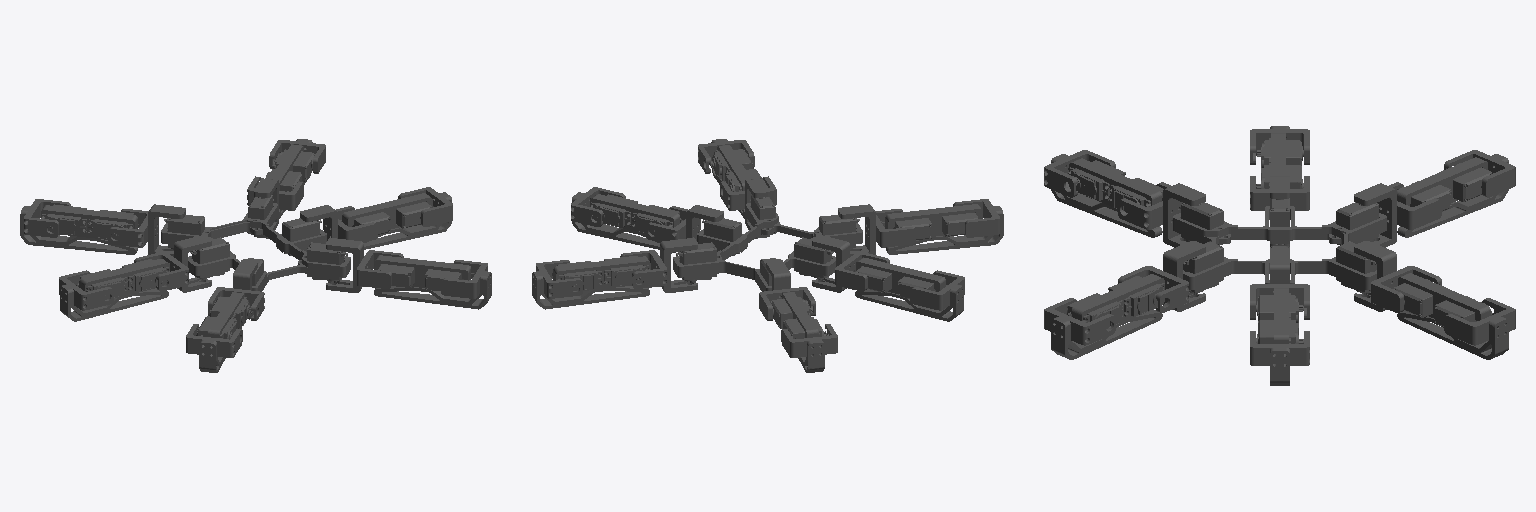
--- Render facts (derived) ---
3 views of the same robot in one strip: view 1: azimuth 30°, elevation 25°; view 2: azimuth 150°, elevation 25°; view 3: azimuth 270°, elevation 25° (orthographic).
Robot: Hexapod — 67 links, 66 joints (18 revolute, 48 fixed); root link base; default pose: every joint at zero.
Visible links, largest first — view 1: base, leg_3_tibia, leg_5_tibia, leg_6_tibia, leg_3_femur, leg_2_femur, leg_6_femur, leg_2_tibia, leg_5_femur, leg_3_femur_bracket_A, leg_3_tibia_bracket_A, leg_6_coxa_bracket_A (+25 smaller); view 2: base, leg_1_tibia, leg_5_tibia, leg_4_tibia, leg_4_femur, leg_5_femur, leg_1_femur, leg_2_tibia, leg_2_femur, leg_5_tibia_bracket_A, leg_4_tibia_bracket_A, leg_5_femur_bracket_A (+24 smaller); view 3: base, leg_3_tibia, leg_1_tibia, leg_1_femur, leg_4_tibia, leg_6_femur, leg_4_femur, leg_1_tibia_bracket_A, leg_3_femur, leg_6_tibia, leg_4_coxa_bracket_A, leg_6_coxa_bracket_A (+28 smaller).
Link boxes in pixels (box(x1,y1,x2,y2)): base: box(161, 203, 350, 291); leg_3_tibia: box(374, 271, 491, 309); leg_5_tibia: box(60, 284, 168, 321); leg_6_tibia: box(20, 206, 137, 254); leg_3_femur: box(374, 255, 470, 287); leg_2_femur: box(342, 193, 432, 229); leg_6_femur: box(41, 205, 137, 239); leg_2_tibia: box(348, 192, 451, 252); leg_5_femur: box(79, 259, 169, 297); leg_3_femur_bracket_A: box(357, 252, 391, 288); leg_3_tibia_bracket_A: box(441, 265, 487, 298); leg_6_coxa_bracket_A: box(148, 204, 185, 251); base: box(673, 203, 862, 291); leg_1_tibia: box(532, 271, 649, 309); leg_5_tibia: box(855, 284, 963, 321); leg_4_tibia: box(886, 206, 1003, 254); leg_4_femur: box(885, 204, 982, 236); leg_5_femur: box(856, 257, 945, 293); leg_1_femur: box(553, 256, 650, 290); leg_2_tibia: box(572, 192, 675, 252); leg_2_femur: box(590, 194, 679, 233); leg_5_tibia_bracket_A: box(910, 278, 963, 310); leg_4_tibia_bracket_A: box(965, 201, 999, 237); leg_5_femur_bracket_A: box(835, 253, 867, 291); base: box(1173, 206, 1386, 289); leg_3_tibia: box(1051, 309, 1162, 359); leg_1_tibia: box(1397, 310, 1508, 359); leg_1_femur: box(1398, 273, 1490, 320); leg_4_tibia: box(1051, 154, 1162, 237); leg_6_femur: box(1397, 157, 1487, 205); leg_4_femur: box(1069, 158, 1161, 206); leg_1_tibia_bracket_A: box(1444, 309, 1512, 345); leg_3_femur: box(1072, 274, 1164, 322); leg_6_tibia: box(1397, 154, 1508, 237); leg_4_coxa_bracket_A: box(1163, 183, 1205, 238); leg_6_coxa_bracket_A: box(1354, 183, 1396, 238).
Bounding box of the posed robot: 0.5148 × 0.4548 × 0.0609 m (x, y, z).
67 mesh visuals loaded from 6 distinct referenced files (6 binary STL).

robot.urdf — Hexapod:
<?xml version='1.0' encoding='utf-8'?>
<robot name="Hexapod">

    <material name="gray">
        <color rgba="0.4 0.4 0.4 1" />
    </material>

    <!-- Body -->

    <link name="base">
        <inertial>
            <origin xyz="-4.567197330417133e-06 0.0014207813889969261 0.00658135692503016" rpy="0.0 0.0 0.0" />
            <mass value="0.07235996288634414" />
            <inertia ixx="0.00027503594673628195" iyy="0.00019910910165675598" izz="0.0004719684331235039" ixy="1.1044492824149298e-08" iyz="-4.230155688856179e-07" ixz="-8.119007727403214e-10" />
        </inertial>
        <visual name="base_visual">
            <origin xyz="0.0 0.0 0.0" rpy="0.0 0.0 0.0" />
            <geometry>
                <mesh filename="CAD/base.stl" scale="0.001 0.001 0.001" />
            </geometry>
            <material name="gray"/>
        </visual>
        <collision name="base_collision">
            <origin xyz="0.0 0.0 0.0" rpy="0.0 0.0 0.0" />
            <geometry>
                <mesh filename="CAD/base.stl" scale="0.001 0.001 0.001" />
            </geometry>
        </collision>
    </link>

    <!-- Leg 1 -->

    <link name="leg_1_coxa_motor">
        <inertial>
            <origin xyz="0.013574471662495436 0.020999093948920588 0.008369892907608513" rpy="0.0 -0.0 0.0" />
            <mass value="0.029139949883713843" />
            <inertia ixx="5.5905783876468375e-06" iyy="5.590577528174812e-06" izz="5.0762677862824235e-06" ixy="-1.601493742541156e-06" iyz="-4.6930327749458066e-08" ixz="-4.693166015165574e-08" />
        </inertial>
        <visual name="leg_1_coxa_motor_visual">
            <origin xyz="0.034789656534207805 0.02842569347242403 -2.958437799684093e-17" rpy="-3.1415926535897922 -7.606971055477596e-16 -2.35619449019235" />
            <geometry>
                <mesh filename="CAD/MG996R.stl" scale="0.001 0.001 0.001" />
            </geometry>
            <material name="gray"/>
        </visual>
        <collision name="leg_1_coxa_motor_collision">
            <origin xyz="0.034789656534207805 0.02842569347242403 -2.958437799684093e-17" rpy="-3.1415926535897922 -7.606971055477596e-16 -2.35619449019235" />
            <geometry>
                <mesh filename="CAD/MG996R.stl" scale="0.001 0.001 0.001" />
            </geometry>
        </collision>
    </link>
    <link name="leg_1_coxa_bracket_B">
        <inertial>
            <origin xyz="-0.003105251669849143 0.014525191609803123 -0.0074541224383952095" rpy="5.691615141457044e-61 -0.0 0.0" />
            <mass value="0.004130529991365324" />
            <inertia ixx="7.023383537157265e-07" iyy="3.6345289474121016e-07" izz="3.6345289474575026e-07" ixy="7.667259002195375e-09" iyz="1.866291193022852e-07" ixz="-7.667259001889596e-09" />
        </inertial>
        <visual name="leg_1_coxa_bracket_B_visual">
            <origin xyz="0.022900003203435226 0.000707103897757353 0.006363965273596914" rpy="2.3561944901923506 -6.414614657916635e-16 3.1415926535897905" />
            <geometry>
                <mesh filename="CAD/bracket_B.stl" scale="0.001 0.001 0.001" />
            </geometry>
            <material name="gray"/>
        </visual>
        <collision name="leg_1_coxa_bracket_B_collision">
            <origin xyz="0.022900003203435226 0.000707103897757353 0.006363965273596914" rpy="2.3561944901923506 -6.414614657916635e-16 3.1415926535897905" />
            <geometry>
                <mesh filename="CAD/bracket_B.stl" scale="0.001 0.001 0.001" />
            </geometry>
        </collision>
    </link>
    <link name="leg_1_coxa_bracket_A">
        <inertial>
            <origin xyz="-0.015926416210366803 -0.015926407039013685 -0.010950415401159198" rpy="0.0 -0.0 0.0" />
            <mass value="0.01302030082235085" />
            <inertia ixx="4.456492754704972e-06" iyy="4.4564927547023565e-06" izz="2.2212930817995568e-06" ixy="-6.7818217166459e-07" iyz="-9.764098496075963e-07" ixz="-9.764098496048723e-07" />
        </inertial>
        <visual name="leg_1_coxa_bracket_A_visual">
            <origin xyz="-0.055545471515115345 -0.055545462343760815 -0.04320260861218249" rpy="-0.7853981633974432 1.5707963267948941 0" />
            <geometry>
                <mesh filename="CAD/bracket_A.stl" scale="0.001 0.001 0.001" />
            </geometry>
            <material name="gray"/>
        </visual>
        <collision name="leg_1_coxa_bracket_A_collision">
            <origin xyz="-0.055545471515115345 -0.055545462343760815 -0.04320260861218249" rpy="-0.7853981633974432 1.5707963267948941 0" />
            <geometry>
                <mesh filename="CAD/bracket_A.stl" scale="0.001 0.001 0.001" />
            </geometry>
        </collision>
    </link>
    <link name="leg_1_femur_bracket_A">
        <inertial>
            <origin xyz="-0.012675760983264742 -0.003554678519033221 0.005000003203434631" rpy="0.0 -0.0 0.0" />
            <mass value="0.01302030082235085" />
            <inertia ixx="1.6189497806714257e-06" iyy="4.380653884166873e-06" izz="5.134674926367841e-06" ixy="7.785087506199451e-07" iyz="-4.726443845678996e-19" ixz="2.349669395683429e-18" />
        </inertial>
        <visual name="leg_1_femur_bracket_A_visual">
            <origin xyz="0.04974903884913646 0.013258632258061188 0.005000003203435334" rpy="1.5707963267948983 1.2896663962143586e-15 -0.7853981633974524" />
            <geometry>
                <mesh filename="CAD/bracket_A.stl" scale="0.001 0.001 0.001" />
            </geometry>
            <material name="gray"/>
        </visual>
        <collision name="leg_1_femur_bracket_A_collision">
            <origin xyz="0.04974903884913646 0.013258632258061188 0.005000003203435334" rpy="1.5707963267948983 1.2896663962143586e-15 -0.7853981633974524" />
            <geometry>
                <mesh filename="CAD/bracket_A.stl" scale="0.001 0.001 0.001" />
            </geometry>
        </collision>
    </link>
    <link name="leg_1_femur_bracket_B">
        <inertial>
            <origin xyz="-0.0049999967965269135 -0.013185405881645487 0.008793910918232131" rpy="0.0 -0.0 0.0" />
            <mass value="0.004130529991365324" />
            <inertia ixx="5.500820140457417e-07" iyy="4.2873792291154715e-07" izz="4.5042420624536415e-07" ixy="1.7550522667109103e-18" iyz="2.627572891372471e-07" ixz="-1.4560496363301423e-18" />
        </inertial>
        <visual name="leg_1_femur_bracket_B_visual">
            <origin xyz="-0.004999996796564824 0.01902117389775734 0.013364315273596947" rpy="-1.7383551510003044e-15 0.7853981633974443 -1.5707963267948983" />
            <geometry>
                <mesh filename="CAD/bracket_B.stl" scale="0.001 0.001 0.001" />
            </geometry>
            <material name="gray"/>
        </visual>
        <collision name="leg_1_femur_bracket_B_collision">
            <origin xyz="-0.004999996796564824 0.01902117389775734 0.013364315273596947" rpy="-1.7383551510003044e-15 0.7853981633974443 -1.5707963267948983" />
            <geometry>
                <mesh filename="CAD/bracket_B.stl" scale="0.001 0.001 0.001" />
            </geometry>
        </collision>
    </link>
    <link name="leg_1_femur_motor">
        <inertial>
            <origin xyz="5.4061232124258395e-09 -0.0231178146864527 -0.008979636323357543" rpy="4.337878534446334e-75 -0.0 0.0" />
            <mass value="0.029139949883713843" />
            <inertia ixx="7.1920717004518315e-06" iyy="4.599046448966514e-06" izz="4.466305552685429e-06" ixy="9.700703510872458e-13" iyz="5.435917854563437e-07" ixz="3.6233184150507507e-13" />
        </inertial>
        <visual name="leg_1_femur_motor_visual">
            <origin xyz="-0.009749996796564731 -0.043357114916835776 -0.0005771521585247364" rpy="-3.1415926535897833 0.7853981633974512 1.5707963267948943" />
            <geometry>
                <mesh filename="CAD/MG996R.stl" scale="0.001 0.001 0.001" />
            </geometry>
            <material name="gray"/>
        </visual>
        <collision name="leg_1_femur_motor_collision">
            <origin xyz="-0.009749996796564731 -0.043357114916835776 -0.0005771521585247364" rpy="-3.1415926535897833 0.7853981633974512 1.5707963267948943" />
            <geometry>
                <mesh filename="CAD/MG996R.stl" scale="0.001 0.001 0.001" />
            </geometry>
        </collision>
    </link>
    <link name="leg_1_femur">
        <inertial>
            <origin xyz="-0.04233946112690463 -0.032331021486653955 -0.005249996796564785" rpy="0.0 7.006492321624085e-46 1.2066609121497597e-89" />
            <mass value="0.021802151943504742" />
            <inertia ixx="1.5076488302837017e-05" iyy="1.5076488302836252e-05" izz="2.5188056838580504e-05" ixy="-1.223245766346636e-05" iyz="-1.6940658945086154e-20" ixz="-2.7105054312137533e-20" />
        </inertial>
        <visual name="leg_1_femur_visual">
            <origin xyz="-0.06738728096951471 -0.04758828817165156 -0.005249996796564868" rpy="1.5707963267948986 -1.5804414278766448e-15 0.7853981633974446" />
            <geometry>
                <mesh filename="CAD/femur.stl" scale="0.001 0.001 0.001" />
            </geometry>
            <material name="gray"/>
        </visual>
        <collision name="leg_1_femur_collision">
            <origin xyz="-0.06738728096951471 -0.04758828817165156 -0.005249996796564868" rpy="1.5707963267948986 -1.5804414278766448e-15 0.7853981633974446" />
            <geometry>
                <mesh filename="CAD/femur.stl" scale="0.001 0.001 0.001" />
            </geometry>
        </collision>
    </link>
    <link name="leg_1_tibia_motor">
        <inertial>
            <origin xyz="0.011368372072919223 -0.023205191063109327 0.005249998999252793" rpy="0.0 -0.0 -1.9481407417666057e-90" />
            <mass value="0.029139949883713843" />
            <inertia ixx="4.599046448966731e-06" iyy="4.466305552685537e-06" izz="7.192071700452265e-06" ixy="5.435917854563436e-07" iyz="-3.62331848281338e-13" ixz="-9.700703578635096e-13" />
        </inertial>
        <visual name="leg_1_tibia_motor_visual">
            <origin xyz="0.031607672303302387 -0.03160767522794195 -0.004500003203435124" rpy="1.5707963267948946 -1.4579767479619077e-15 2.3561944901923497" />
            <geometry>
                <mesh filename="CAD/MG996R.stl" scale="0.001 0.001 0.001" />
            </geometry>
            <material name="gray"/>
        </visual>
        <collision name="leg_1_tibia_motor_collision">
            <origin xyz="0.031607672303302387 -0.03160767522794195 -0.004500003203435124" rpy="1.5707963267948946 -1.4579767479619077e-15 2.3561944901923497" />
            <geometry>
                <mesh filename="CAD/MG996R.stl" scale="0.001 0.001 0.001" />
            </geometry>
        </collision>
    </link>
    <link name="leg_1_tibia_bracket_A">
        <inertial>
            <origin xyz="-0.008183294094499942 -0.023669531630267856 3.203435771093055e-09" rpy="0.0 -0.0 -5.001342253538129e-90" />
            <mass value="0.01302030082235085" />
            <inertia ixx="4.380653884166928e-06" iyy="1.6189497806713173e-06" izz="5.134674926367678e-06" ixy="7.785087506200264e-07" iyz="2.3954091748351614e-18" ixz="-5.183841637196319e-19" />
        </inertial>
        <visual name="leg_1_tibia_bracket_A_visual">
            <origin xyz="-0.024996604871594885 -0.08609433146266905 3.203434947307571e-09" rpy="-1.570796326794895 2.6216440076822113e-15 -0.7853981633974513" />
            <geometry>
                <mesh filename="CAD/bracket_A.stl" scale="0.001 0.001 0.001" />
            </geometry>
            <material name="gray"/>
        </visual>
        <collision name="leg_1_tibia_bracket_A_collision">
            <origin xyz="-0.024996604871594885 -0.08609433146266905 3.203434947307571e-09" rpy="-1.570796326794895 2.6216440076822113e-15 -0.7853981633974513" />
            <geometry>
                <mesh filename="CAD/bracket_A.stl" scale="0.001 0.001 0.001" />
            </geometry>
        </collision>
    </link>
    <link name="leg_1_tibia_bracket_B">
        <inertial>
            <origin xyz="-0.004999996796602597 0.008793918304699026 -0.013185403268111866" rpy="1.5241149863310267e-61 8.758115402030107e-47 0.0" />
            <mass value="0.004130529991365324" />
            <inertia ixx="5.500820140457688e-07" iyy="4.5042420624536405e-07" izz="4.2873792291151327e-07" ixy="1.4602848010664136e-18" iyz="2.6275728913721994e-07" ixz="-1.748276003132876e-18" />
        </inertial>
        <visual name="leg_1_tibia_bracket_B_visual">
            <origin xyz="-0.004999996796564574 0.01336432266006412 0.01902117651129096" rpy="-3.1415926535897922 0.7853981633974451 -1.570796326794902" />
            <geometry>
                <mesh filename="CAD/bracket_B.stl" scale="0.001 0.001 0.001" />
            </geometry>
            <material name="gray"/>
        </visual>
        <collision name="leg_1_tibia_bracket_B_collision">
            <origin xyz="-0.004999996796564574 0.01336432266006412 0.01902117651129096" rpy="-3.1415926535897922 0.7853981633974451 -1.570796326794902" />
            <geometry>
                <mesh filename="CAD/bracket_B.stl" scale="0.001 0.001 0.001" />
            </geometry>
        </collision>
    </link>
    <link name="leg_1_tibia">
        <inertial>
            <origin xyz="0.026965073129646255 0.03403614230100331 -0.026581936859366603" rpy="0.0 -3.503246160812043e-46 0.0" />
            <mass value="0.02243468417663065" />
            <inertia ixx="2.20268536708009e-05" iyy="2.2026853670809242e-05" izz="3.948923882044343e-05" ixy="-1.9223537837673336e-05" iyz="2.9439831431853673e-06" ixz="2.9439831431894402e-06" />
        </inertial>
        <visual name="leg_1_tibia_visual">
            <origin xyz="0.023334521173797997 0.030405590345152902 -0.004999996871070658" rpy="2.1072934008282714e-15 -2.164998327842474e-15 2.3561944901923417" />
            <geometry>
                <mesh filename="CAD/tibia.stl" scale="0.001 0.001 0.001" />
            </geometry>
            <material name="gray"/>
        </visual>
        <collision name="leg_1_tibia_collision">
            <origin xyz="0.023334521173797997 0.030405590345152902 -0.004999996871070658" rpy="2.1072934008282714e-15 -2.164998327842474e-15 2.3561944901923417" />
            <geometry>
                <mesh filename="CAD/tibia.stl" scale="0.001 0.001 0.001" />
            </geometry>
        </collision>
    </link>

    <joint name="base_leg_1_base_coxa_motor" type="fixed">
        <origin xyz="0.06338894406140227 0.09617856323275542 0.0" rpy="0.0 -0.0 -3.141592653589793" />
        <parent link="base" />
        <child link="leg_1_coxa_motor" />
    </joint>
    <joint name="leg_1_coxa_bracket_A_leg_1_coxa_bracket" type="fixed">
        <origin xyz="-0.017677670000000003 -0.024748730000000007 -0.0453" rpy="3.3187136453961136e-46 -1.5707963267948966 0" />
        <parent link="leg_1_coxa_bracket_A" />
        <child link="leg_1_coxa_bracket_B" />
    </joint>
    <joint name="leg_1_coxa" type="revolute">
        <origin xyz="0.006505390000000002 0.013930000000000007 0.03106621" rpy="1.9721522630525295e-31 -0.0 -3.3187136453961136e-46" />
        <parent link="leg_1_coxa_motor" />
        <child link="leg_1_coxa_bracket_A" />
        <axis xyz="0.0 -1.9721522630525295e-31 -1.0" />
        <limit lower="-1.570796" upper="1.570796" effort="1000000" velocity="1000000" />
    </joint>
    <joint name="leg_1_femur_bracket_A_leg_1_coxa_bracket_femur_bracket" type="fixed">
        <origin xyz="0.01689985 -0.022556709999999997 0.01" rpy="3.944304526105059e-31 -1.5707963267948966 0" />
        <parent link="leg_1_femur_bracket_A" />
        <child link="leg_1_femur_bracket_B" />
    </joint>
    <joint name="leg_1_coxa_bracket_A_leg_1_femur_bracket" type="fixed">
        <origin xyz="-0.027577170000000005 -0.020506090000000015 -0.027400000000000004" rpy="2.6887765138291873e-30 6.5450086261912554e-77 3.3187136453961136e-46" />
        <parent link="leg_1_coxa_bracket_A" />
        <child link="leg_1_femur_bracket_A" />
    </joint>
    <joint name="leg_1_femur" type="revolute">
        <origin xyz="-0.03634529000000001 -0.011737969999999986 0.005" rpy="-6.661338147750935e-16 -1.5707963267948966 0" />
        <parent link="leg_1_femur_bracket_A" />
        <child link="leg_1_femur_motor" />
        <axis xyz="-2.594261684304826e-30 0.7071069999999996 0.7071070000000005" />
        <limit lower="-1.570796" upper="1.570796" effort="1000000" velocity="1000000" />
    </joint>
    <joint name="leg_1_femur_motor_leg_1_femur_motor_femur" type="fixed">
        <origin xyz="0.00525 -0.011749439999999965 -0.032184830000000025" rpy="-6.611709141336395e-45 1.570796326794896 0" />
        <parent link="leg_1_femur_motor" />
        <child link="leg_1_femur" />
    </joint>
    <joint name="leg_1_femur_leg_1_femur_tibia_motor" type="fixed">
        <origin xyz="-0.07467048 -0.07467048000000003 2.220446049250313e-18" rpy="3.141592653589793 -1.51226552030483e-30 3.94430452610506e-31" />
        <parent link="leg_1_femur" />
        <child link="leg_1_tibia_motor" />
    </joint>
    <joint name="leg_1_tibia_bracket_A_leg_1_tibia_bracket" type="fixed">
        <origin xyz="0.010818740000000026 -0.05324515000000002 0.005000000000000001" rpy="-1.97215226305253e-31 -1.5707963267948966 0" />
        <parent link="leg_1_tibia_bracket_A" />
        <child link="leg_1_tibia_bracket_B" />
    </joint>
    <joint name="leg_1_tibia" type="revolute">
        <origin xyz="-0.01174944 -0.032184830000000025 0.00525" rpy="-3.141592653589793 4.759319555259372e-30 1.1543557789201666e-90" />
        <parent link="leg_1_tibia_motor" />
        <child link="leg_1_tibia_bracket_A" />
        <axis xyz="0.707107 -0.707107 -1.0126468723405215e-29" />
        <limit lower="-2.181662" upper="-0.0" effort="1000000" velocity="1000000" />
    </joint>
    <joint name="leg_1_tibia_bracket_A_leg_1_tibia_bracket_tibia" type="fixed">
        <origin xyz="-0.004666899999999998 -0.043416360000000015 0.005000000000000001" rpy="-9.860761315262648e-31 4.894350220025294e-30 -1.9721522630525295e-31" />
        <parent link="leg_1_tibia_bracket_A" />
        <child link="leg_1_tibia" />
    </joint>

    <!-- Leg 2 -->

    <link name="leg_2_coxa_motor">
        <inertial>
            <origin xyz="0.02444720409026191 0.0052500054354434715 0.008369892907608496" rpy="0.0 -0.0 0.0" />
            <mass value="0.20795327871559424" />
            <inertia ixx="2.8467555536956224e-05" iyy="5.132523895322533e-05" izz="3.6226092838469756e-05" ixy="-3.0667524590763037e-12" iyz="6.72352947090753e-12" ixz="-4.7364365263922396e-07" />
        </inertial>
        <visual name="leg_2_coxa_motor_visual">
            <origin xyz="0.044700004061402086 -0.004499996767244423 -7.679184985266577e-17" rpy="-3.141592653589793 -1.7201985660320116e-15 3.141592653589793" />
            <geometry>
                <mesh filename="CAD/MG996R.stl" scale="0.001 0.001 0.001" />
            </geometry>
            <material name="gray"/>
        </visual>
        <collision name="leg_2_coxa_motor_collision">
            <origin xyz="0.044700004061402086 -0.004499996767244423 -7.679184985266577e-17" rpy="-3.141592653589793 -1.7201985660320116e-15 3.141592653589793" />
            <geometry>
                <mesh filename="CAD/MG996R.stl" scale="0.001 0.001 0.001" />
            </geometry>
        </collision>
    </link>
    <link name="leg_2_coxa_bracket_B">
        <inertial>
            <origin xyz="-0.0031052516698490164 0.005000003232793494 -0.015541731109800186" rpy="0.0 -0.0 0.0" />
            <mass value="0.029476964029288902" />
            <inertia ixx="5.0121418878803635e-06" iyy="3.925585282053807e-06" izz="1.2618787611030848e-06" ixy="1.5353530960168262e-18" iyz="1.6205434346869274e-17" ixz="-7.738060189573621e-08" />
        </inertial>
        <visual name="leg_2_coxa_bracket_B_visual">
            <origin xyz="0.0229000032034354 0.005000003232755467 0.0039999959385979625" rpy="3.1415926535897927 -8.24298540808992e-16 3.1415926535897913" />
            <geometry>
                <mesh filename="CAD/bracket_B.stl" scale="0.001 0.001 0.001" />
            </geometry>
            <material name="gray"/>
        </visual>
        <collision name="leg_2_coxa_bracket_B_collision">
            <origin xyz="0.0229000032034354 0.005000003232755467 0.0039999959385979625" rpy="3.1415926535897927 -8.24298540808992e-16 3.1415926535897913" />
            <geometry>
                <mesh filename="CAD/bracket_B.stl" scale="0.001 0.001 0.001" />
            </geometry>
        </collision>
    </link>
    <link name="leg_2_coxa_bracket_A">
        <inertial>
            <origin xyz="-0.022523343077750165 3.2327548002419883e-09 -0.010950415401159055" rpy="0.0 -0.0 0.0" />
            <mass value="0.09291760132314016" />
            <inertia ixx="2.6963398251687907e-05" iyy="3.6642907429082646e-05" izz="1.5851955174660498e-05" ixy="-9.337691210531407e-18" iyz="-1.3833318578083606e-17" ixz="-9.8542623692912e-06" />
        </inertial>
        <visual name="leg_2_coxa_bracket_A_visual">
            <origin xyz="-0.07855314841813432 3.2327555024580513e-09 -0.04320260861218222" rpy="-3.194319442119254e-45 1.5707963267948948 0" />
            <geometry>
                <mesh filename="CAD/bracket_A.stl" scale="0.001 0.001 0.001" />
            </geometry>
            <material name="gray"/>
        </visual>
        <collision name="leg_2_coxa_bracket_A_collision">
            <origin xyz="-0.07855314841813432 3.2327555024580513e-09 -0.04320260861218222" rpy="-3.194319442119254e-45 1.5707963267948948 0" />
            <geometry>
                <mesh filename="CAD/bracket_A.stl" scale="0.001 0.001 0.001" />
            </geometry>
        </collision>
    </link>
    <link name="leg_2_femur_bracket_A">
        <inertial>
            <origin xyz="-0.011476648799445517 0.0064495846281610175 0.0050000032034348205" rpy="0.0 -0.0 0.0" />
            <mass value="0.09291760132314016" />
            <inertia ixx="2.696339825168818e-05" iyy="1.5851955174657354e-05" izz="3.664290742907907e-05" ixy="9.854262369290794e-06" iyz="-1.4267422963551435e-17" ixz="9.513874063560301e-18" />
        </inertial>
        <visual name="leg_2_femur_bracket_A_visual">
            <origin xyz="0.04455315654093875 -0.02580260858286211 0.005000003203435406" rpy="1.570796326794896 8.510717720686041e-16 -1.5707963267948954" />
            <geometry>
                <mesh filename="CAD/bracket_A.stl" scale="0.001 0.001 0.001" />
            </geometry>
            <material name="gray"/>
        </visual>
        <collision name="leg_2_femur_bracket_A_collision">
            <origin xyz="0.04455315654093875 -0.02580260858286211 0.005000003203435406" rpy="1.570796326794896 8.510717720686041e-16 -1.5707963267948954" />
            <geometry>
                <mesh filename="CAD/bracket_A.stl" scale="0.001 0.001 0.001" />
            </geometry>
        </collision>
    </link>
    <link name="leg_2_femur_bracket_B">
        <inertial>
            <origin xyz="-0.0049999967965266776 -0.003105251640528857 0.015541722986996156" rpy="0.0 -0.0 0.0" />
            <mass value="0.029476964029288902" />
            <inertia ixx="3.92558528205378e-06" iyy="5.012141887880445e-06" izz="1.261878761103178e-06" ixy="1.5077186461126546e-18" iyz="7.738060189576331e-08" ixz="-1.620882247865829e-17" />
        </inertial>
        <visual name="leg_2_femur_bracket_B_visual">
            <origin xyz="-0.004999996796564646 0.022900003232755522 -0.004000004061401992" rpy="-1.295326278414143e-15 1.0547118733938999e-15 -1.5707963267948974" />
            <geometry>
                <mesh filename="CAD/bracket_B.stl" scale="0.001 0.001 0.001" />
            </geometry>
            <material name="gray"/>
        </visual>
        <collision name="leg_2_femur_bracket_B_collision">
            <origin xyz="-0.004999996796564646 0.022900003232755522 -0.004000004061401992" rpy="-1.295326278414143e-15 1.0547118733938999e-15 -1.5707963267948974" />
            <geometry>
                <mesh filename="CAD/bracket_B.stl" scale="0.001 0.001 0.001" />
            </geometry>
        </collision>
    </link>
    <link name="leg_2_femur_motor">
        <inertial>
            <origin xyz="5.406123489981596e-09 -0.0226963170630714 0.009997195967457665" rpy="5.402641209858873e-93 -0.0 0.0" />
            <mass value="0.20795327871559424" />
            <inertia ixx="5.13252389532249e-05" iyy="3.6226092838469e-05" izz="2.8467555536956125e-05" ixy="6.7235294484611595e-12" iyz="-4.736436526391849e-07" ixz="-3.066752526838935e-12" />
        </inertial>
        <visual name="leg_2_femur_motor_visual">
            <origin xyz="-0.009749996796564402 -0.031066209970679957 0.03024999593859782" rpy="1.570796326794899 1.5707963267948941 0" />
            <geometry>
                <mesh filename="CAD/MG996R.stl" scale="0.001 0.001 0.001" />
            </geometry>
            <material name="gray"/>
        </visual>
        <collision name="leg_2_femur_motor_collision">
            <origin xyz="-0.009749996796564402 -0.031066209970679957 0.03024999593859782" rpy="1.570796326794899 1.5707963267948941 0" />
            <geometry>
                <mesh filename="CAD/MG996R.stl" scale="0.001 0.001 0.001" />
            </geometry>
        </collision>
    </link>
    <link name="leg_2_femur">
        <inertial>
            <origin xyz="-0.052799995938616 0.007077033500005008 -0.005249996796564443" rpy="0.0 -0.0 0.0" />
            <mass value="0.155588084324102" />
            <inertia ixx="2.0296036835505468e-05" iyy="0.00019488656894134197" izz="0.00017975113289350313" ixy="-3.1704443215728458e-18" iyz="4.8572045569113707e-20" ixz="5.4210108624275186e-20" />
        </inertial>
        <visual name="leg_2_femur_visual">
            <origin xyz="-0.081299995938598 0.014000000029319995 -0.005249996796564461" rpy="1.5707963267948981 7.771561172376091e-16 1.3877787807814457e-15" />
            <geometry>
                <mesh filename="CAD/femur.stl" scale="0.001 0.001 0.001" />
            </geometry>
            <material name="gray"/>
        </visual>
        <collision name="leg_2_femur_collision">
            <origin xyz="-0.081299995938598 0.014000000029319995 -0.005249996796564461" rpy="1.5707963267948981 7.771561172376091e-16 1.3877787807814457e-15" />
            <geometry>
                <mesh filename="CAD/femur.stl" scale="0.001 0.001 0.001" />
            </geometry>
        </collision>
    </link>
    <link name="leg_2_tibia_motor">
        <inertial>
            <origin xyz="0.024447204090261715 -0.008369892936928471 0.005249998999252401" rpy="0.0 -0.0 -1.0767935747447776e-62" />
            <mass value="0.20795327871559424" />
            <inertia ixx="2.8467555536956068e-05" iyy="3.622609283846813e-05" izz="5.132523895322663e-05" ixy="4.7364365263925784e-07" iyz="-6.7235295230000565e-12" ixz="-3.0667525268389395e-12" />
        </inertial>
        <visual name="leg_2_tibia_motor_visual">
            <origin xyz="0.044700004061401906 -2.931993758892304e-11 -0.004500003203435472" rpy="1.570796326794895 8.996207971523451e-16 3.1415926535897927" />
            <geometry>
                <mesh filename="CAD/MG996R.stl" scale="0.001 0.001 0.001" />
            </geometry>
            <material name="gray"/>
        </visual>
        <collision name="leg_2_tibia_motor_collision">
            <origin xyz="0.044700004061401906 -2.931993758892304e-11 -0.004500003203435472" rpy="1.570796326794895 8.996207971523451e-16 3.1415926535897927" />
            <geometry>
                <mesh filename="CAD/MG996R.stl" scale="0.001 0.001 0.001" />
            </geometry>
        </collision>
    </link>
    <link name="leg_2_tibia_bracket_A">
        <inertial>
            <origin xyz="-0.02252334307775044 -0.01095041537183914 3.2034362584809628e-09" rpy="0.0 -0.0 0.0" />
            <mass value="0.09291760132314016" />
            <inertia ixx="2.696339825168882e-05" iyy="1.585195517465627e-05" izz="3.6642907429077984e-05" ixy="-9.854262369291445e-06" iyz="1.473498515043581e-17" ixz="9.459663954936026e-18" />
        </inertial>
        <visual name="leg_2_tibia_bracket_A_visual">
            <origin xyz="-0.07855314841813467 -0.04320260858286247 3.2034355823551408e-09" rpy="-1.5707963267948974 2.1830493835364575e-15 -1.5707963267948943" />
            <geometry>
                <mesh filename="CAD/bracket_A.stl" scale="0.001 0.001 0.001" />
            </geometry>
            <material name="gray"/>
        </visual>
        <collision name="leg_2_tibia_bracket_A_collision">
            <origin xyz="-0.07855314841813467 -0.04320260858286247 3.2034355823551408e-09" rpy="-1.5707963267948974 2.1830493835364575e-15 -1.5707963267948943" />
            <geometry>
                <mesh filename="CAD/bracket_A.stl" scale="0.001 0.001 0.001" />
            </geometry>
        </collision>
    </link>
    <link name="leg_2_tibia_bracket_B">
        <inertial>
            <origin xyz="-0.004999996796602131 -0.0031052516405290476 -0.015541731109800132" rpy="0.0 -0.0 0.0" />
            <mass value="0.029476964029288902" />
            <inertia ixx="3.9255852820534e-06" iyy="5.0121418878803364e-06" izz="1.2618787611031272e-06" ixy="-1.4594377681191595e-18" iyz="-7.738060189566845e-08" ixz="-1.620882247865829e-17" />
        </inertial>
        <visual name="leg_2_tibia_bracket_B_visual">
            <origin xyz="-0.004999996796564074 0.02290000323275531 0.003999995938598105" rpy="3.141592653589793 2.0539125955565404e-15 -1.5707963267949" />
            <geometry>
                <mesh filename="CAD/bracket_B.stl" scale="0.001 0.001 0.001" />
            </geometry>
            <material name="gray"/>
        </visual>
        <collision name="leg_2_tibia_bracket_B_collision">
            <origin xyz="-0.004999996796564074 0.02290000323275531 0.003999995938598105" rpy="3.141592653589793 2.0539125955565404e-15 -1.5707963267949" />
            <geometry>
                <mesh filename="CAD/bracket_B.stl" scale="0.001 0.001 0.001" />
            </geometry>
        </collision>
    </link>
    <link name="leg_2_tibia">
        <inertial>
            <origin xyz="0.04313437987626397 0.005000003232756968 -0.026581936859366308" rpy="0.0 -0.0 0.0" />
            <mass value="0.16010206435140967" />
            <inertia ixx="2.0005481172803085e-05" iyy="0.00029437779394686763" izz="0.00028180956794589" ixy="2.791820594150174e-17" iyz="-2.041772919356491e-17" ixz="2.971168543152168e-05" />
        </inertial>
        <visual name="leg_2_tibia_visual">
            <origin xyz="0.03800000406140175 0.005000003232755413 -0.0049999968710703595" rpy="3.885780586188056e-15 -2.3055140634511926e-15 1.5707963267948986" />
            <geometry>
                <mesh filename="CAD/tibia.stl" scale="0.001 0.001 0.001" />
            </geometry>
            <material name="gray"/>
        </visual>
        <collision name="leg_2_tibia_collision">
            <origin xyz="0.03800000406140175 0.005000003232755413 -0.0049999968710703595" rpy="3.885780586188056e-15 -2.3055140634511926e-15 1.5707963267948986" />
            <geometry>
                <mesh filename="CAD/tibia.stl" scale="0.001 0.001 0.001" />
            </geometry>
        </collision>
    </link>

    <joint name="base_leg_2_base_coxa_motor" type="fixed">
        <origin xyz="0.08513500406140226 0.005250003232755546 0.0" rpy="0.0 -0.0 -3.141592653589793" />
        <parent link="base" />
        <child link="leg_2_coxa_motor" />
    </joint>
    <joint name="leg_2_coxa_bracket_A_leg_2_coxa_bracket" type="fixed">
        <origin xyz="-0.029999999999999992 -0.005 -0.0453" rpy="3.503246160812043e-46 -1.5707963267948966 0" />
        <parent link="leg_2_coxa_bracket_A" />
        <child link="leg_2_coxa_bracket_B" />
    </joint>
    <joint name="leg_2_coxa" type="revolute">
        <origin xyz="0.014449999999999994 0.00525 0.03106621" rpy="3.0814879110195774e-33 -0.0 -3.503246160812043e-46" />
        <parent link="leg_2_coxa_motor" />
        <child link="leg_2_coxa_bracket_A" />
        <axis xyz="-0.0 -3.0814879110195774e-33 -1.0" />
        <limit lower="-1.570796" upper="1.570796" effort="1000000" velocity="1000000" />
    </joint>
    <joint name="leg_2_femur_bracket_A_leg_2_coxa_bracket_femur_bracket" type="fixed">
        <origin xyz="-0.0040000000000000036 -0.0279 0.01" rpy="1.9721522630525295e-31 -1.5707963267948966 0" />
        <parent link="leg_2_femur_bracket_A" />
        <child link="leg_2_femur_bracket_B" />
    </joint>
    <joint name="leg_2_coxa_bracket_A_leg_2_femur_bracket" type="fixed">
        <origin xyz="-0.033999999999999996 0.005 -0.027400000000000004" rpy="-3.0814879110195774e-33 1.0795210693868056e-78 3.503246160812043e-46" />
        <parent link="leg_2_coxa_bracket_A" />
        <child link="leg_2_femur_bracket_A" />
    </joint>
    <joint name="leg_2_femur" type="revolute">
        <origin xyz="-0.034 0.017400000000000002 0.005" rpy="-6.661338147750937e-16 -1.5707963267948966 0" />
        <parent link="leg_2_femur_bracket_A" />
        <child link="leg_2_femur_motor" />
        <axis xyz="0.0 1.0 6.661338147750937e-16" />
        <limit lower="-1.570796" upper="1.570796" effort="1000000" velocity="1000000" />
    </joint>
    <joint name="leg_2_femur_motor_leg_2_femur_motor_femur" type="fixed">
        <origin xyz="0.00525 -0.031066209999999993 -0.01445000000000002" rpy="1.825139890882535e-46 1.570796326794896 0" />
        <parent link="leg_2_femur_motor" />
        <child link="leg_2_femur" />
    </joint>
    <joint name="leg_2_femur_leg_2_femur_tibia_motor" type="fixed">
        <origin xyz="-0.10559999999999999 0.0 0.0" rpy="-3.141592653589793 -4.52291709077779e-32 9.860761315262648e-32" />
        <parent link="leg_2_femur" />
        <child link="leg_2_tibia_motor" />
    </joint>
    <joint name="leg_2_tibia_bracket_A_leg_2_tibia_bracket" type="fixed">
        <origin xyz="-0.03 -0.0453 0.005000000000000001" rpy="-9.522483540078376e-62 -1.5707963267948966 0" />
        <parent link="leg_2_tibia_bracket_A" />
        <child link="leg_2_tibia_bracket_B" />
    </joint>
    <joint name="leg_2_tibia" type="revolute">
        <origin xyz="0.014450000000000003 -0.03106621 0.00525" rpy="3.141592653589793 1.4537699757513598e-31 9.860761315262648e-32" />
        <parent link="leg_2_tibia_motor" />
        <child link="leg_2_tibia_bracket_A" />
        <axis xyz="0.0 -1.0 -1.9721522630525295e-31" />
        <limit lower="-2.181662" upper="-0.0" effort="1000000" velocity="1000000" />
    </joint>
    <joint name="leg_2_tibia_bracket_A_leg_2_tibia_bracket_tibia" type="fixed">
        <origin xyz="-0.03399999999999999 -0.027400000000000004 0.005000000000000001" rpy="9.860761315262648e-32 -4.8284727900975155e-31 -9.522483540078376e-62" />
        <parent link="leg_2_tibia_bracket_A" />
        <child link="leg_2_tibia" />
    </joint>

    <!-- Leg 3 -->

    <link name="leg_3_coxa_motor">
        <inertial>
            <origin xyz="0.02099909477756648 -0.01357446436833831 0.008369892907608513" rpy="0.0 -0.0 0.0" />
            <mass value="0.029139949883713843" />
            <inertia ixx="5.590577528174812e-06" iyy="5.59057838764681e-06" izz="5.076267786282369e-06" ixy="1.6014937425411425e-06" iyz="4.6931660151654047e-08" ixz="-4.6930327749461454e-08" />
        </inertial>
        <visual name="leg_3_coxa_motor_visual">
            <origin xyz="0.028425694301069965 -0.03478964924005066 -2.9584377996840855e-17" rpy="-3.1415926535897922 -7.606971055477591e-16 2.356194490192342" />
            <geometry>
                <mesh filename="CAD/MG996R.stl" scale="0.001 0.001 0.001" />
            </geometry>
            <material name="gray"/>
        </visual>
        <collision name="leg_3_coxa_motor_collision">
            <origin xyz="0.028425694301069965 -0.03478964924005066 -2.9584377996840855e-17" rpy="-3.1415926535897922 -7.606971055477591e-16 2.356194490192342" />
            <geometry>
                <mesh filename="CAD/MG996R.stl" scale="0.001 0.001 0.001" />
            </geometry>
        </collision>
    </link>
    <link name="leg_3_coxa_bracket_B">
        <inertial>
            <origin xyz="-0.003105251669849143 -0.007454125144238067 -0.014525192438449004" rpy="5.6916151414570475e-61 -0.0 0.0" />
            <mass value="0.004130529991365324" />
            <inertia ixx="7.023383537157267e-07" iyy="3.634528947457471e-07" izz="3.6345289474121016e-07" ixy="-7.6672590018896e-09" iyz="-1.8662911930228187e-07" ixz="-7.66725900219453e-09" />
        </inertial>
        <visual name="leg_3_coxa_bracket_B_visual">
            <origin xyz="0.02290000320343522 0.00636396256775404 -0.0007071047264031982" rpy="-2.3561944901923426 2.809873712853343e-15 3.1415926535897927" />
            <geometry>
                <mesh filename="CAD/bracket_B.stl" scale="0.001 0.001 0.001" />
            </geometry>
            <material name="gray"/>
        </visual>
        <collision name="leg_3_coxa_bracket_B_collision">
            <origin xyz="0.02290000320343522 0.00636396256775404 -0.0007071047264031982" rpy="-2.3561944901923426 2.809873712853343e-15 3.1415926535897927" />
            <geometry>
                <mesh filename="CAD/bracket_B.stl" scale="0.001 0.001 0.001" />
            </geometry>
        </collision>
    </link>
    <link name="leg_3_coxa_bracket_A">
        <inertial>
            <origin xyz="-0.015926416210367868 0.015926413504523892 -0.01095041540115921" rpy="0.0 -0.0 7.670458539527609e-93" />
            <mass value="0.01302030082235085" />
            <inertia ixx="4.456492754702424e-06" iyy="4.456492754704959e-06" izz="2.2212930817996372e-06" ixy="6.781821716646171e-07" iyz="9.764098496048585e-07" ixz="-9.76409849607603e-07" />
        </inertial>
        <visual name="leg_3_coxa_bracket_A_visual">
            <origin xyz="-0.055545471515115075 0.05554546880927237 -0.04320260861218251" rpy="0.7853981633974512 1.5707963267948941 0" />
            <geometry>
                <mesh filename="CAD/bracket_A.stl" scale="0.001 0.001 0.001" />
            </geometry>
            <material name="gray"/>
        </visual>
        <collision name="leg_3_coxa_bracket_A_collision">
            <origin xyz="-0.055545471515115075 0.05554546880927237 -0.04320260861218251" rpy="0.7853981633974512 1.5707963267948941 0" />
            <geometry>
                <mesh filename="CAD/bracket_A.stl" scale="0.001 0.001 0.001" />
            </geometry>
        </collision>
    </link>
    <link name="leg_3_femur_bracket_A">
        <inertial>
            <origin xyz="-0.0035546776903874733 0.01267575827742183 0.005000003203434634" rpy="0.0 -0.0 0.0" />
            <mass value="0.01302030082235085" />
            <inertia ixx="4.380653884167036e-06" iyy="1.6189497806713994e-06" izz="5.134674926367897e-06" ixy="-7.785087506199453e-07" iyz="-2.3547515933669557e-18" ixz="-4.726443845678997e-19" />
        </inertial>
        <visual name="leg_3_femur_bracket_A_visual">
            <origin xyz="0.013258633086707095 -0.04974904155497933 0.005000003203435337" rpy="1.5707963267948983 1.2896663962143594e-15 -2.3561944901923466" />
            <geometry>
                <mesh filename="CAD/bracket_A.stl" scale="0.001 0.001 0.001" />
            </geometry>
            <material name="gray"/>
        </visual>
        <collision name="leg_3_femur_bracket_A_collision">
            <origin xyz="0.013258633086707095 -0.04974904155497933 0.005000003203435337" rpy="1.5707963267948983 1.2896663962143594e-15 -2.3561944901923466" />
            <geometry>
                <mesh filename="CAD/bracket_A.stl" scale="0.001 0.001 0.001" />
            </geometry>
        </collision>
    </link>
    <link name="leg_3_femur_bracket_B">
        <inertial>
            <origin xyz="-0.004999996796526915 0.008793918212389116 0.013185405052999625" rpy="-7.235508984711272e-61 -0.0 0.0" />
            <mass value="0.004130529991365324" />
            <inertia ixx="5.500820140457686e-07" iyy="4.5042420624539126e-07" izz="4.2873792291154694e-07" ixy="-1.4556261198565147e-18" iyz="-2.627572891372538e-07" ixz="-1.755899299658164e-18" />
        </inertial>
        <visual name="leg_3_femur_bracket_B_visual">
            <origin xyz="-0.004999996796564827 0.013364322567754012 -0.019021174726403203" rpy="3.862897684400556e-15 -0.7853981633974502 -1.5707963267948983" />
            <geometry>
                <mesh filename="CAD/bracket_B.stl" scale="0.001 0.001 0.001" />
            </geometry>
            <material name="gray"/>
        </visual>
        <collision name="leg_3_femur_bracket_B_collision">
            <origin xyz="-0.004999996796564827 0.013364322567754012 -0.019021174726403203" rpy="3.862897684400556e-15 -0.7853981633974502 -1.5707963267948983" />
            <geometry>
                <mesh filename="CAD/bracket_B.stl" scale="0.001 0.001 0.001" />
            </geometry>
        </collision>
    </link>
    <link name="leg_3_femur_motor">
        <inertial>
            <origin xyz="5.406123213536063e-09 -0.008979639029200417 0.023117813857807014" rpy="9.860761315262648e-32 -0.0 0.0" />
            <mass value="0.029139949883713843" />
            <inertia ixx="7.1920717004519365e-06" iyy="4.466305552685483e-06" izz="4.599046448966512e-06" ixy="3.6233184828133855e-13" iyz="-5.435917854562894e-07" ixz="-9.700703510872454e-13" />
        </inertial>
        <visual name="leg_3_femur_motor_visual">
            <origin xyz="-0.009749996796564733 -0.0005771548643676461 0.043357114088190145" rpy="-4.102986532631015e-15 0.7853981633974478 -1.5707963267948943" />
            <geometry>
                <mesh filename="CAD/MG996R.stl" scale="0.001 0.001 0.001" />
            </geometry>
            <material name="gray"/>
        </visual>
        <collision name="leg_3_femur_motor_collision">
            <origin xyz="-0.009749996796564733 -0.0005771548643676461 0.043357114088190145" rpy="-4.102986532631015e-15 0.7853981633974478 -1.5707963267948943" />
            <geometry>
                <mesh filename="CAD/MG996R.stl" scale="0.001 0.001 0.001" />
            </geometry>
        </collision>
    </link>
    <link name="leg_3_femur">
        <inertial>
            <origin xyz="-0.03233102065800832 0.04233945842106165 -0.005249996796564788" rpy="0.0 -0.0 0.0" />
            <mass value="0.021802151943504742" />
            <inertia ixx="1.5076488302836143e-05" iyy="1.5076488302836794e-05" izz="2.5188056838580165e-05" ixy="1.2232457663466194e-05" iyz="2.0328790734103398e-20" ixz="-2.032879073410312e-20" />
        </inertial>
        <visual name="leg_3_femur_visual">
            <origin xyz="-0.047588287343005985 0.06738727826367169 -0.0052499967965648695" rpy="1.5707963267948986 -1.5804414278766462e-15 -0.7853981633974498" />
            <geometry>
                <mesh filename="CAD/femur.stl" scale="0.001 0.001 0.001" />
            </geometry>
            <material name="gray"/>
        </visual>
        <collision name="leg_3_femur_collision">
            <origin xyz="-0.047588287343005985 0.06738727826367169 -0.0052499967965648695" rpy="1.5707963267948986 -1.5804414278766462e-15 -0.7853981633974498" />
            <geometry>
                <mesh filename="CAD/femur.stl" scale="0.001 0.001 0.001" />
            </geometry>
        </collision>
    </link>
    <link name="leg_3_tibia_motor">
        <inertial>
            <origin xyz="0.023205191891754958 0.011368374778762238 0.005249998999252789" rpy="0.0 -0.0 0.0" />
            <mass value="0.029139949883713843" />
            <inertia ixx="4.466305552685429e-06" iyy="4.599046448966514e-06" izz="7.192071700451615e-06" ixy="-5.43591785456452e-07" iyz="-9.700703714160368e-13" ixz="3.62331848281338e-13" />
        </inertial>
        <visual name="leg_3_tibia_motor_visual">
            <origin xyz="0.03160767605658764 0.03160767500914538 -0.004500003203435128" rpy="1.5707963267948946 -1.4579767479619083e-15 -2.3561944901923426" />
            <geometry>
                <mesh filename="CAD/MG996R.stl" scale="0.001 0.001 0.001" />
            </geometry>
            <material name="gray"/>
        </visual>
        <collision name="leg_3_tibia_motor_collision">
            <origin xyz="0.03160767605658764 0.03160767500914538 -0.004500003203435128" rpy="1.5707963267948946 -1.4579767479619083e-15 -2.3561944901923426" />
            <geometry>
                <mesh filename="CAD/MG996R.stl" scale="0.001 0.001 0.001" />
            </geometry>
        </collision>
    </link>
    <link name="leg_3_tibia_bracket_A">
        <inertial>
            <origin xyz="-0.023669530801622436 0.008183291388657032 3.203435771093055e-09" rpy="0.0 -0.0 -5.001342253538141e-90" />
            <mass value="0.01302030082235085" />
            <inertia ixx="1.6189497806713173e-06" iyy="4.3806538841671444e-06" izz="5.13467492636757e-06" ixy="-7.78508750619918e-07" iyz="5.183841637196318e-19" ixz="2.3954091748351614e-18" />
        </inertial>
        <visual name="leg_3_tibia_bracket_A_visual">
            <origin xyz="-0.08609433063402368 0.024996602165751832 3.203434947307571e-09" rpy="-1.570796326794895 2.6216440076822105e-15 -2.3561944901923457" />
            <geometry>
                <mesh filename="CAD/bracket_A.stl" scale="0.001 0.001 0.001" />
            </geometry>
            <material name="gray"/>
        </visual>
        <collision name="leg_3_tibia_bracket_A_collision">
            <origin xyz="-0.08609433063402368 0.024996602165751832 3.203434947307571e-09" rpy="-1.570796326794895 2.6216440076822105e-15 -2.3561944901923457" />
            <geometry>
                <mesh filename="CAD/bracket_A.stl" scale="0.001 0.001 0.001" />
            </geometry>
        </collision>
    </link>
    <link name="leg_3_tibia_bracket_B">
        <inertial>
            <origin xyz="-0.004999996796602591 -0.013185405973954971 -0.008793909133344577" rpy="0.0 8.758115402030107e-47 0.0" />
            <mass value="0.004130529991365324" />
            <inertia ixx="5.500820140457146e-07" iyy="4.2873792291154027e-07" izz="4.5042420624530994e-07" ixy="-1.749970069027384e-18" iyz="-2.6275728913727415e-07" ixz="-1.4594377681191595e-18" />
        </inertial>
        <visual name="leg_3_tibia_bracket_B_visual">
            <origin xyz="-0.004999996796564567 0.019021173805447874 -0.013364313488709598" rpy="-3.14159265358979 -0.7853981633974491 -1.570796326794902" />
            <geometry>
                <mesh filename="CAD/bracket_B.stl" scale="0.001 0.001 0.001" />
            </geometry>
            <material name="gray"/>
        </visual>
        <collision name="leg_3_tibia_bracket_B_collision">
            <origin xyz="-0.004999996796564567 0.019021173805447874 -0.013364313488709598" rpy="-3.14159265358979 -0.7853981633974491 -1.570796326794902" />
            <geometry>
                <mesh filename="CAD/bracket_B.stl" scale="0.001 0.001 0.001" />
            </geometry>
        </collision>
    </link>
    <link name="leg_3_tibia">
        <inertial>
            <origin xyz="0.03403614312964887 -0.026965075835489183 -0.026581936859366603" rpy="0.0 -3.503246160812043e-46 0.0" />
            <mass value="0.02243468417663065" />
            <inertia ixx="2.2026853670809032e-05" iyy="2.2026853670800894e-05" izz="3.948923882044343e-05" ixy="1.9223537837673336e-05" iyz="-2.9439831431894466e-06" ixz="2.9439831431853813e-06" />
        </inertial>
        <visual name="leg_3_tibia_visual">
            <origin xyz="0.030405591173798447 -0.02333452387964094 -0.004999996871070658" rpy="2.107293400828271e-15 -2.1649983278424786e-15 0.7853981633974474" />
            <geometry>
                <mesh filename="CAD/tibia.stl" scale="0.001 0.001 0.001" />
            </geometry>
            <material name="gray"/>
        </visual>
        <collision name="leg_3_tibia_collision">
            <origin xyz="0.030405591173798447 -0.02333452387964094 -0.004999996871070658" rpy="2.107293400828271e-15 -2.1649983278424786e-15 0.7853981633974474" />
            <geometry>
                <mesh filename="CAD/tibia.stl" scale="0.001 0.001 0.001" />
            </geometry>
        </collision>
    </link>

    <joint name="base_leg_3_base_coxa_motor" type="fixed">
        <origin xyz="0.07081356406140228 -0.08875393676724434 0.0" rpy="0.0 -0.0 -3.141592653589793" />
        <parent link="base" />
        <child link="leg_3_coxa_motor" />
    </joint>
    <joint name="leg_3_coxa_bracket_A_leg_3_coxa_bracket" type="fixed">
        <origin xyz="-0.02474874000000001 0.017677669999999993 -0.045300000000000014" rpy="5.917287137060639e-77 -1.5707963267948966 0" />
        <parent link="leg_3_coxa_bracket_A" />
        <child link="leg_3_coxa_bracket_B" />
    </joint>
    <joint name="leg_3_coxa" type="revolute">
        <origin xyz="0.013930010000000008 -0.006505379999999992 0.03106621" rpy="-1.97215226305253e-31 -9.860761315262648e-32 -5.9172871370606394e-77" />
        <parent link="leg_3_coxa_motor" />
        <child link="leg_3_coxa_bracket_A" />
        <axis xyz="-9.860761315262648e-32 1.9721522630525295e-31 -0.9999999999999999" />
        <limit lower="-1.570796" upper="1.570796" effort="1000000" velocity="1000000" />
    </joint>
    <joint name="leg_3_femur_bracket_A_leg_3_coxa_bracket_femur_bracket" type="fixed">
        <origin xyz="-0.022556710000000004 -0.016899859999999992 0.01" rpy="-5.122504467411497e-60 -1.5707963267948966 0" />
        <parent link="leg_3_femur_bracket_A" />
        <child link="leg_3_femur_bracket_B" />
    </joint>
    <joint name="leg_3_coxa_bracket_A_leg_3_femur_bracket" type="fixed">
        <origin xyz="-0.020506100000000006 0.027577169999999995 -0.02740000000000001" rpy="3.083206966439695e-30 9.86076131526265e-32 5.91728713706064e-77" />
        <parent link="leg_3_coxa_bracket_A" />
        <child link="leg_3_femur_bracket_A" />
    </joint>
    <joint name="leg_3_femur" type="revolute">
        <origin xyz="-0.011737969999999995 0.03634529000000001 0.004999999999999999" rpy="-6.661338147750938e-16 -1.5707963267948966 0" />
        <parent link="leg_3_femur_bracket_A" />
        <child link="leg_3_femur_motor" />
        <axis xyz="2.3153571502507704e-30 0.7071070000000005 -0.7071069999999995" />
        <limit lower="-1.570796" upper="1.570796" effort="1000000" velocity="1000000" />
    </joint>
    <joint name="leg_3_femur_motor_leg_3_femur_motor_femur" type="fixed">
        <origin xyz="0.005250000000000001 -0.032184830000000025 0.011749439999999965" rpy="-6.699958282553032e-45 1.570796326794896 0" />
        <parent link="leg_3_femur_motor" />
        <child link="leg_3_femur" />
    </joint>
    <joint name="leg_3_femur_leg_3_femur_tibia_motor" type="fixed">
        <origin xyz="-0.07467048 0.07467048 0.0" rpy="3.141592653589793 -1.5122655203048314e-30 5.9648357364109684e-61" />
        <parent link="leg_3_femur" />
        <child link="leg_3_tibia_motor" />
    </joint>
    <joint name="leg_3_tibia_bracket_A_leg_3_tibia_bracket" type="fixed">
        <origin xyz="-0.05324514000000001 -0.010818739999999992 0.005000000000000001" rpy="-1.97215226305253e-31 -1.5707963267948966 0" />
        <parent link="leg_3_tibia_bracket_A" />
        <child link="leg_3_tibia_bracket_B" />
    </joint>
    <joint name="leg_3_tibia" type="revolute">
        <origin xyz="0.03218482999999999 -0.01174944 0.00525" rpy="-3.141592653589793 4.759319555259378e-30 -1.9721522630525295e-31" />
        <parent link="leg_3_tibia_motor" />
        <child link="leg_3_tibia_bracket_A" />
        <axis xyz="-0.707107 -0.707107 1.0126468723405223e-29" />
        <limit lower="-2.181662" upper="-0.0" effort="1000000" velocity="1000000" />
    </joint>
    <joint name="leg_3_tibia_bracket_A_leg_3_tibia_bracket_tibia" type="fixed">
        <origin xyz="-0.04341635999999998 0.004666899999999998 0.005000000000000001" rpy="-3.9443045261050586e-31 4.8943502200252996e-30 -1.9721522630525295e-31" />
        <parent link="leg_3_tibia_bracket_A" />
        <child link="leg_3_tibia" />
    </joint>

    <!-- Leg 4 -->

    <link name="leg_4_coxa_motor">
        <inertial>
            <origin xyz="-0.013574473539690662 -0.020999097483409414 0.008369892907608513" rpy="0.0 -0.0 0.0" />
            <mass value="0.029139949883713843" />
            <inertia ixx="5.5905783876468375e-06" iyy="5.590577528174812e-06" izz="5.076267786282478e-06" ixy="-1.601493742541129e-06" iyz="4.6930327749461454e-08" ixz="4.6931660151654047e-08" />
        </inertial>
        <visual name="leg_4_coxa_motor_visual">
            <origin xyz="-0.03478965841140303 -0.028425697006912855 -2.958437799684087e-17" rpy="-3.1415926535897922 -7.606971055477591e-16 0.7853981633974432" />
            <geometry>
                <mesh filename="CAD/MG996R.stl" scale="0.001 0.001 0.001" />
            </geometry>
            <material name="gray"/>
        </visual>
        <collision name="leg_4_coxa_motor_collision">
            <origin xyz="-0.03478965841140303 -0.028425697006912855 -2.958437799684087e-17" rpy="-3.1415926535897922 -7.606971055477591e-16 0.7853981633974432" />
            <geometry>
                <mesh filename="CAD/MG996R.stl" scale="0.001 0.001 0.001" />
            </geometry>
        </collision>
    </link>
    <link name="leg_4_coxa_bracket_B">
        <inertial>
            <origin xyz="-0.003105251669849145 -0.014525195144291967 0.007454124315590365" rpy="0.0 -0.0 0.0" />
            <mass value="0.004130529991365324" />
            <inertia ixx="7.023383537157199e-07" iyy="3.6345289474121037e-07" izz="3.634528947457435e-07" ixy="-7.667259002194532e-09" iyz="1.866291193022751e-07" ixz="7.667259001890445e-09" />
        </inertial>
        <visual name="leg_4_coxa_bracket_B_visual">
            <origin xyz="0.022900003203435215 -0.0007071074322461791 -0.00636396339640176" rpy="-0.7853981633974427 6.414614657916649e-16 -3.1415926535897905" />
            <geometry>
                <mesh filename="CAD/bracket_B.stl" scale="0.001 0.001 0.001" />
            </geometry>
            <material name="gray"/>
        </visual>
        <collision name="leg_4_coxa_bracket_B_collision">
            <origin xyz="0.022900003203435215 -0.0007071074322461791 -0.00636396339640176" rpy="-0.7853981633974427 6.414614657916649e-16 -3.1415926535897905" />
            <geometry>
                <mesh filename="CAD/bracket_B.stl" scale="0.001 0.001 0.001" />
            </geometry>
        </collision>
    </link>
    <link name="leg_4_coxa_bracket_A">
        <inertial>
            <origin xyz="0.01592641433317164 0.015926413504524888 -0.01095041540115921" rpy="0.0 -0.0 0.0" />
            <mass value="0.01302030082235085" />
            <inertia ixx="4.456492754704972e-06" iyy="4.456492754702397e-06" izz="2.221293081799556e-06" ixy="-6.781821716645765e-07" iyz="9.764098496075995e-07" ixz="9.76409849604872e-07" />
        </inertial>
        <visual name="leg_4_coxa_bracket_A_visual">
            <origin xyz="0.05554546963792019 0.05554546880927202 -0.04320260861218251" rpy="2.35619449019235 1.5707963267948941 0" />
            <geometry>
                <mesh filename="CAD/bracket_A.stl" scale="0.001 0.001 0.001" />
            </geometry>
            <material name="gray"/>
        </visual>
        <collision name="leg_4_coxa_bracket_A_collision">
            <origin xyz="0.05554546963792019 0.05554546880927202 -0.04320260861218251" rpy="2.35619449019235 1.5707963267948941 0" />
            <geometry>
                <mesh filename="CAD/bracket_A.stl" scale="0.001 0.001 0.001" />
            </geometry>
        </collision>
    </link>
    <link name="leg_4_femur_bracket_A">
        <inertial>
            <origin xyz="0.012675759106069525 0.0035546749845444124 0.005000003203434637" rpy="0.0 -0.0 0.0" />
            <mass value="0.01302030082235085" />
            <inertia ixx="1.6189497806714257e-06" iyy="4.380653884166929e-06" izz="5.134674926367897e-06" ixy="7.785087506199182e-07" iyz="4.692562527788826e-19" ixz="-2.3530575274724467e-18" />
        </inertial>
        <visual name="leg_4_femur_bracket_A_visual">
            <origin xyz="-0.049749040726331684 -0.013258635792550013 0.005000003203435339" rpy="1.5707963267948983 1.2896663962143636e-15 2.356194490192341" />
            <geometry>
                <mesh filename="CAD/bracket_A.stl" scale="0.001 0.001 0.001" />
            </geometry>
            <material name="gray"/>
        </visual>
        <collision name="leg_4_femur_bracket_A_collision">
            <origin xyz="-0.049749040726331684 -0.013258635792550013 0.005000003203435339" rpy="1.5707963267948983 1.2896663962143636e-15 2.356194490192341" />
            <geometry>
                <mesh filename="CAD/bracket_A.stl" scale="0.001 0.001 0.001" />
            </geometry>
        </collision>
    </link>
    <link name="leg_4_femur_bracket_B">
        <inertial>
            <origin xyz="-0.004999996796526911 0.013185412347156653 -0.008793909041036906" rpy="0.0 -0.0 0.0" />
            <mass value="0.004130529991365324" />
            <inertia ixx="5.500820140457555e-07" iyy="4.2873792291154736e-07" izz="4.5042420624536436e-07" ixy="-1.755052266710911e-18" iyz="2.6275728913726075e-07" ixz="1.456049636330143e-18" />
        </inertial>
        <visual name="leg_4_femur_bracket_B_visual">
            <origin xyz="-0.0049999967965648215 -0.019021167432246175 -0.013364313396401739" rpy="3.1415926535897913 -0.7853981633974443 1.5707963267948983" />
            <geometry>
                <mesh filename="CAD/bracket_B.stl" scale="0.001 0.001 0.001" />
            </geometry>
            <material name="gray"/>
        </visual>
        <collision name="leg_4_femur_bracket_B_collision">
            <origin xyz="-0.0049999967965648215 -0.019021167432246175 -0.013364313396401739" rpy="3.1415926535897913 -0.7853981633974443 1.5707963267948983" />
            <geometry>
                <mesh filename="CAD/bracket_B.stl" scale="0.001 0.001 0.001" />
            </geometry>
        </collision>
    </link>
    <link name="leg_4_femur_motor">
        <inertial>
            <origin xyz="5.4061232124258395e-09 0.02311781115196398 0.008979638200552564" rpy="-9.860761315262648e-32 -0.0 0.0" />
            <mass value="0.029139949883713843" />
            <inertia ixx="7.1920717004517265e-06" iyy="4.59904644896657e-06" izz="4.466305552685431e-06" ixy="-9.700703443109827e-13" iyz="5.435917854563981e-07" ixz="-3.6233184150507527e-13" />
        </inertial>
        <visual name="leg_4_femur_motor_visual">
            <origin xyz="-0.009749996796564728 0.043357111382347074 0.0005771540357197757" rpy="9.798572316089862e-15 -0.785398163397451 -1.5707963267948943" />
            <geometry>
                <mesh filename="CAD/MG996R.stl" scale="0.001 0.001 0.001" />
            </geometry>
            <material name="gray"/>
        </visual>
        <collision name="leg_4_femur_motor_collision">
            <origin xyz="-0.009749996796564728 0.043357111382347074 0.0005771540357197757" rpy="9.798572316089862e-15 -0.785398163397451 -1.5707963267948943" />
            <geometry>
                <mesh filename="CAD/MG996R.stl" scale="0.001 0.001 0.001" />
            </geometry>
        </collision>
    </link>
    <link name="leg_4_femur">
        <inertial>
            <origin xyz="0.04233945924970957 0.03233101795216527 -0.005249996796564788" rpy="0.0 -0.0 1.775240694593387e-60" />
            <mass value="0.021802151943504742" />
            <inertia ixx="1.507648830283701e-05" iyy="1.507648830283619e-05" izz="2.5188056838580056e-05" ixy="-1.2232457663466245e-05" iyz="2.0328790734103064e-20" ixz="2.3716922523120497e-20" />
        </inertial>
        <visual name="leg_4_femur_visual">
            <origin xyz="0.06738727909231963 0.04758828463716288 -0.0052499967965648695" rpy="1.5707963267948986 -1.580441427876639e-15 -2.3561944901923484" />
            <geometry>
                <mesh filename="CAD/femur.stl" scale="0.001 0.001 0.001" />
            </geometry>
            <material name="gray"/>
        </visual>
        <collision name="leg_4_femur_collision">
            <origin xyz="0.06738727909231963 0.04758828463716288 -0.0052499967965648695" rpy="1.5707963267948986 -1.580441427876639e-15 -2.3561944901923484" />
            <geometry>
                <mesh filename="CAD/femur.stl" scale="0.001 0.001 0.001" />
            </geometry>
        </collision>
    </link>
    <link name="leg_4_tibia_motor">
        <inertial>
            <origin xyz="-0.011368373950114297 0.02320518459759807 0.005249998999252789" rpy="0.0 -0.0 0.0" />
            <mass value="0.029139949883713843" />
            <inertia ixx="4.599046448966731e-06" iyy="4.466305552685429e-06" izz="7.192071700452265e-06" ixy="5.435917854563436e-07" iyz="3.623318415050744e-13" ixz="9.700703646397732e-13" />
        </inertial>
        <visual name="leg_4_tibia_motor_visual">
            <origin xyz="-0.03160767418049747 0.0316076687624307 -0.004500003203435128" rpy="1.5707963267948946 -1.457976747961905e-15 -0.7853981633974437" />
            <geometry>
                <mesh filename="CAD/MG996R.stl" scale="0.001 0.001 0.001" />
            </geometry>
            <material name="gray"/>
        </visual>
        <collision name="leg_4_tibia_motor_collision">
            <origin xyz="-0.03160767418049747 0.0316076687624307 -0.004500003203435128" rpy="1.5707963267948946 -1.457976747961905e-15 -0.7853981633974437" />
            <geometry>
                <mesh filename="CAD/MG996R.stl" scale="0.001 0.001 0.001" />
            </geometry>
        </collision>
    </link>
    <link name="leg_4_tibia_bracket_A">
        <inertial>
            <origin xyz="0.008183292217304867 0.02366952809577928 3.203435767762386e-09" rpy="0.0 -0.0 0.0" />
            <mass value="0.01302030082235085" />
            <inertia ixx="4.380653884166982e-06" iyy="1.6189497806713173e-06" izz="5.134674926367678e-06" ixy="7.78508750619918e-07" iyz="-2.3987973066241786e-18" ixz="5.183841637196317e-19" />
        </inertial>
        <visual name="leg_4_tibia_bracket_A_visual">
            <origin xyz="0.02499660299439981 0.08609432792818048 3.203434945087125e-09" rpy="-1.570796326794895 2.621644007682211e-15 2.356194490192342" />
            <geometry>
                <mesh filename="CAD/bracket_A.stl" scale="0.001 0.001 0.001" />
            </geometry>
            <material name="gray"/>
        </visual>
        <collision name="leg_4_tibia_bracket_A_collision">
            <origin xyz="0.02499660299439981 0.08609432792818048 3.203434945087125e-09" rpy="-1.570796326794895 2.621644007682211e-15 2.356194490192342" />
            <geometry>
                <mesh filename="CAD/bracket_A.stl" scale="0.001 0.001 0.001" />
            </geometry>
        </collision>
    </link>
    <link name="leg_4_tibia_bracket_B">
        <inertial>
            <origin xyz="-0.004999996796602591 -0.0087939118391877 0.01318540514530703" rpy="0.0 -0.0 0.0" />
            <mass value="0.004130529991365324" />
            <inertia ixx="5.500820140457146e-07" iyy="4.504242062453777e-07" izz="4.287379229115404e-07" ixy="-1.4602848010664138e-18" iyz="2.627572891372471e-07" ixz="1.748276003132876e-18" />
        </inertial>
        <visual name="leg_4_tibia_bracket_B_visual">
            <origin xyz="-0.004999996796564567 -0.013364316194552792 -0.019021174634095816" rpy="1.0249567968129637e-15 -0.7853981633974453 1.570796326794902" />
            <geometry>
                <mesh filename="CAD/bracket_B.stl" scale="0.001 0.001 0.001" />
            </geometry>
            <material name="gray"/>
        </visual>
        <collision name="leg_4_tibia_bracket_B_collision">
            <origin xyz="-0.004999996796564567 -0.013364316194552792 -0.019021174634095816" rpy="1.0249567968129637e-15 -0.7853981633974453 1.570796326794902" />
            <geometry>
                <mesh filename="CAD/bracket_B.stl" scale="0.001 0.001 0.001" />
            </geometry>
        </collision>
    </link>
    <link name="leg_4_tibia">
        <inertial>
            <origin xyz="-0.026965075006841345 -0.03403614583549203 -0.026581936859366603" rpy="0.0 -0.0 0.0" />
            <mass value="0.02243468417663065" />
            <inertia ixx="2.2026853670800792e-05" iyy="2.202685367080914e-05" izz="3.948923882044343e-05" ixy="-1.922353783767323e-05" iyz="-2.9439831431853745e-06" ixz="-2.9439831431894402e-06" />
        </inertial>
        <visual name="leg_4_tibia_visual">
            <origin xyz="-0.023334523050993105 -0.03040559387964162 -0.004999996871070658" rpy="2.1072934008282753e-15 -2.164998327842479e-15 -0.7853981633974515" />
            <geometry>
                <mesh filename="CAD/tibia.stl" scale="0.001 0.001 0.001" />
            </geometry>
            <material name="gray"/>
        </visual>
        <collision name="leg_4_tibia_collision">
            <origin xyz="-0.023334523050993105 -0.03040559387964162 -0.004999996871070658" rpy="2.1072934008282753e-15 -2.164998327842479e-15 -0.7853981633974515" />
            <geometry>
                <mesh filename="CAD/tibia.stl" scale="0.001 0.001 0.001" />
            </geometry>
        </collision>
    </link>

    <joint name="base_leg_4_base_coxa_motor" type="fixed">
        <origin xyz="-0.06338894593859754 -0.09617856676724434 0.0" rpy="0.0 -0.0 -3.141592653589793" />
        <parent link="base" />
        <child link="leg_4_coxa_motor" />
    </joint>
    <joint name="leg_4_coxa_bracket_A_leg_4_coxa_bracket" type="fixed">
        <origin xyz="0.017677670000000003 0.024748739999999998 -0.045300000000000014" rpy="2.127796654039258e-61 -1.5707963267948966 0" />
        <parent link="leg_4_coxa_bracket_A" />
        <child link="leg_4_coxa_bracket_B" />
    </joint>
    <joint name="leg_4_coxa" type="revolute">
        <origin xyz="-0.006505390000000002 -0.01393001 0.03106621" rpy="-1.97215226305253e-31 -1.9721522630525295e-31 -2.1277966540392582e-61" />
        <parent link="leg_4_coxa_motor" />
        <child link="leg_4_coxa_bracket_A" />
        <axis xyz="-1.9721522630525295e-31 1.9721522630525295e-31 -0.9999999999999999" />
        <limit lower="-1.570796" upper="1.570796" effort="1000000" velocity="1000000" />
    </joint>
    <joint name="leg_4_femur_bracket_A_leg_4_coxa_bracket_femur_bracket" type="fixed">
        <origin xyz="-0.01689984999999999 0.022556700000000002 0.01" rpy="1.972152263052529e-31 -1.5707963267948966 0" />
        <parent link="leg_4_femur_bracket_A" />
        <child link="leg_4_femur_bracket_B" />
    </joint>
    <joint name="leg_4_coxa_bracket_A_leg_4_femur_bracket" type="fixed">
        <origin xyz="0.027577169999999995 0.02050609999999999 -0.02740000000000001" rpy="3.0832069664396943e-30 -0.0 2.1277966540392582e-61" />
        <parent link="leg_4_coxa_bracket_A" />
        <child link="leg_4_femur_bracket_A" />
    </joint>
    <joint name="leg_4_femur" type="revolute">
        <origin xyz="0.03634529000000001 0.011737970000000023 0.004999999999999999" rpy="-6.661338147750937e-16 -1.5707963267948966 0" />
        <parent link="leg_4_femur_bracket_A" />
        <child link="leg_4_femur_motor" />
        <axis xyz="2.5942616843048273e-30 -0.7071069999999997 -0.7071070000000006" />
        <limit lower="-1.570796" upper="1.570796" effort="1000000" velocity="1000000" />
    </joint>
    <joint name="leg_4_femur_motor_leg_4_femur_motor_femur" type="fixed">
        <origin xyz="0.00525 0.011749439999999946 0.03218482999999999" rpy="-3.944304526105126e-31 1.570796326794896 0" />
        <parent link="leg_4_femur_motor" />
        <child link="leg_4_femur" />
    </joint>
    <joint name="leg_4_femur_leg_4_femur_tibia_motor" type="fixed">
        <origin xyz="0.07467048 0.07467047000000002 0.0" rpy="3.141592653589793 -1.5122655203048314e-30 1.97215226305253e-31" />
        <parent link="leg_4_femur" />
        <child link="leg_4_tibia_motor" />
    </joint>
    <joint name="leg_4_tibia_bracket_A_leg_4_tibia_bracket" type="fixed">
        <origin xyz="-0.010818739999999992 0.05324514000000001 0.005000000000000001" rpy="-0.0 -1.5707963267948966 0" />
        <parent link="leg_4_tibia_bracket_A" />
        <child link="leg_4_tibia_bracket_B" />
    </joint>
    <joint name="leg_4_tibia" type="revolute">
        <origin xyz="0.01174944 0.03218482000000002 0.00525" rpy="-3.141592653589793 4.759319555259376e-30 0.0" />
        <parent link="leg_4_tibia_motor" />
        <child link="leg_4_tibia_bracket_A" />
        <axis xyz="-0.707107 0.707107 1.0126468723405218e-29" />
        <limit lower="-2.181662" upper="-0.0" effort="1000000" velocity="1000000" />
    </joint>
    <joint name="leg_4_tibia_bracket_A_leg_4_tibia_bracket_tibia" type="fixed">
        <origin xyz="0.004666899999999998 0.043416360000000015 0.005000000000000001" rpy="-1.9721522630525295e-31 4.894350220025299e-30 0.0" />
        <parent link="leg_4_tibia_bracket_A" />
        <child link="leg_4_tibia" />
    </joint>

    <!-- Leg 5 -->

    <link name="leg_5_coxa_motor">
        <inertial>
            <origin xyz="-0.02444719596745717 -0.005249998969932374 0.008369892907608513" rpy="0.0 -0.0 0.0" />
            <mass value="0.029139949883713843" />
            <inertia ixx="3.989084215369667e-06" iyy="7.192071700451967e-06" izz="5.076267786282396e-06" ixy="-4.2973601251862395e-13" iyz="-9.421506252509996e-13" ixz="6.637044814053067e-08" />
        </inertial>
        <visual name="leg_5_coxa_motor_visual">
            <origin xyz="-0.04469999593859735 0.004500003232755534 -2.958437799684087e-17" rpy="-3.1415926535897922 -7.60697105547759e-16 -1.6653345369377427e-16" />
            <geometry>
                <mesh filename="CAD/MG996R.stl" scale="0.001 0.001 0.001" />
            </geometry>
            <material name="gray"/>
        </visual>
        <collision name="leg_5_coxa_motor_collision">
            <origin xyz="-0.04469999593859735 0.004500003232755534 -2.958437799684087e-17" rpy="-3.1415926535897922 -7.60697105547759e-16 -1.6653345369377427e-16" />
            <geometry>
                <mesh filename="CAD/MG996R.stl" scale="0.001 0.001 0.001" />
            </geometry>
        </collision>
    </link>
    <link name="leg_5_coxa_bracket_B">
        <inertial>
            <origin xyz="-0.003105251669849145 -0.004999996767282532 0.015541722986995535" rpy="0.0 -0.0 0.0" />
            <mass value="0.004130529991365324" />
            <inertia ixx="7.023383537157265e-07" iyy="5.50082014045762e-07" izz="1.7682377544119818e-07" ixy="-2.1510666393318974e-19" iyz="2.271001210707186e-18" ixz="1.0843141666916124e-08" />
        </inertial>
        <visual name="leg_5_coxa_bracket_B_visual">
            <origin xyz="0.022900003203435226 -0.004999996767244498 -0.004000004061402685" rpy="-3.330669073875465e-16 -1.53329900430526e-15 -3.141592653589791" />
            <geometry>
                <mesh filename="CAD/bracket_B.stl" scale="0.001 0.001 0.001" />
            </geometry>
            <material name="gray"/>
        </visual>
        <collision name="leg_5_coxa_bracket_B_collision">
            <origin xyz="0.022900003203435226 -0.004999996767244498 -0.004000004061402685" rpy="-3.330669073875465e-16 -1.53329900430526e-15 -3.141592653589791" />
            <geometry>
                <mesh filename="CAD/bracket_B.stl" scale="0.001 0.001 0.001" />
            </geometry>
        </collision>
    </link>
    <link name="leg_5_coxa_bracket_A">
        <inertial>
            <origin xyz="0.022523351200554886 3.2327563137535266e-09 -0.010950415401159206" rpy="0.0 -0.0 0.0" />
            <mass value="0.01302030082235085" />
            <inertia ixx="3.7783105830390803e-06" iyy="5.134674926368275e-06" izz="2.221293081799543e-06" ixy="-1.3078188705606397e-18" iyz="1.9369525921337713e-18" ixz="1.3808520517478153e-06" />
        </inertial>
        <visual name="leg_5_coxa_bracket_A_visual">
            <origin xyz="0.07855315654093899 3.2327555912758933e-09 -0.043202608612182496" rpy="-3.141592653589793 1.5707963267948941 0" />
            <geometry>
                <mesh filename="CAD/bracket_A.stl" scale="0.001 0.001 0.001" />
            </geometry>
            <material name="gray"/>
        </visual>
        <collision name="leg_5_coxa_bracket_A_collision">
            <origin xyz="0.07855315654093899 3.2327555912758933e-09 -0.043202608612182496" rpy="-3.141592653589793 1.5707963267948941 0" />
            <geometry>
                <mesh filename="CAD/bracket_A.stl" scale="0.001 0.001 0.001" />
            </geometry>
        </collision>
    </link>
    <link name="leg_5_femur_bracket_A">
        <inertial>
            <origin xyz="0.011476656922250169 -0.006449578162649977 0.005000003203434642" rpy="0.0 -0.0 0.0" />
            <mass value="0.01302030082235085" />
            <inertia ixx="3.7783105830391124e-06" iyy="2.2212930817992857e-06" izz="5.134674926367895e-06" ixy="1.380852051747768e-06" iyz="1.9970919313888266e-18" ixz="-1.328147661294743e-18" />
        </inertial>
        <visual name="leg_5_femur_bracket_A_visual">
            <origin xyz="-0.04455314841813406 0.02580261504837317 0.005000003203435345" rpy="1.5707963267948983 1.2896663962143616e-15 1.5707963267948977" />
            <geometry>
                <mesh filename="CAD/bracket_A.stl" scale="0.001 0.001 0.001" />
            </geometry>
            <material name="gray"/>
        </visual>
        <collision name="leg_5_femur_bracket_A_collision">
            <origin xyz="-0.04455314841813406 0.02580261504837317 0.005000003203435345" rpy="1.5707963267948983 1.2896663962143616e-15 1.5707963267948977" />
            <geometry>
                <mesh filename="CAD/bracket_A.stl" scale="0.001 0.001 0.001" />
            </geometry>
        </collision>
    </link>
    <link name="leg_5_femur_bracket_B">
        <inertial>
            <origin xyz="-0.004999996796526911 0.0031052581060398853 -0.015541731109800878" rpy="0.0 -0.0 0.0" />
            <mass value="0.004130529991365324" />
            <inertia ixx="5.500820140457553e-07" iyy="7.023383537157129e-07" izz="1.7682377544120856e-07" ixy="-2.1133472033994793e-19" iyz="1.0843141666922054e-08" ixz="2.2708953315887792e-18" />
        </inertial>
        <visual name="leg_5_femur_bracket_B_visual">
            <origin xyz="-0.0049999967965648215 -0.022899996767244496 0.003999995938597288" rpy="-3.1415926535897922 -9.992007221626417e-16 1.570796326794898" />
            <geometry>
                <mesh filename="CAD/bracket_B.stl" scale="0.001 0.001 0.001" />
            </geometry>
            <material name="gray"/>
        </visual>
        <collision name="leg_5_femur_bracket_B_collision">
            <origin xyz="-0.0049999967965648215 -0.022899996767244496 0.003999995938597288" rpy="-3.1415926535897922 -9.992007221626417e-16 1.570796326794898" />
            <geometry>
                <mesh filename="CAD/bracket_B.stl" scale="0.001 0.001 0.001" />
            </geometry>
        </collision>
    </link>
    <link name="leg_5_femur_motor">
        <inertial>
            <origin xyz="5.406123213536063e-09 0.022696323528582443 -0.009997204090262795" rpy="8.469737173967595e-64 -0.0 0.0" />
            <mass value="0.029139949883713843" />
            <inertia ixx="7.192071700452048e-06" iyy="5.0762677862824235e-06" izz="3.989084215369657e-06" ixy="-9.421506233451756e-13" iyz="-6.637044814052148e-08" ixz="4.2973602649466697e-13" />
        </inertial>
        <visual name="leg_5_femur_motor_visual">
            <origin xyz="-0.009749996796564731 0.031066216436191 -0.030250004061402953" rpy="-1.5707963267948937 -1.570796326794894 0" />
            <geometry>
                <mesh filename="CAD/MG996R.stl" scale="0.001 0.001 0.001" />
            </geometry>
            <material name="gray"/>
        </visual>
        <collision name="leg_5_femur_motor_collision">
            <origin xyz="-0.009749996796564731 0.031066216436191 -0.030250004061402953" rpy="-1.5707963267948937 -1.570796326794894 0" />
            <geometry>
                <mesh filename="CAD/MG996R.stl" scale="0.001 0.001 0.001" />
            </geometry>
        </collision>
    </link>
    <link name="leg_5_femur">
        <inertial>
            <origin xyz="0.052800004061420935 -0.007077037034494033 -0.005249996796564788" rpy="0.0 -0.0 6.19407286711598e-94" />
            <mass value="0.021802151943504742" />
            <inertia ixx="2.844030639370196e-06" iyy="2.730894596630288e-05" izz="2.5188056838579948e-05" ixy="-4.404571325722362e-19" iyz="-7.72917564369549e-21" ixz="2.7105054312137617e-20" />
        </inertial>
        <visual name="leg_5_femur_visual">
            <origin xyz="0.08130000406140293 -0.014000003563809024 -0.0052499967965648695" rpy="1.5707963267948986 -1.580441427876642e-15 -3.141592653589792" />
            <geometry>
                <mesh filename="CAD/femur.stl" scale="0.001 0.001 0.001" />
            </geometry>
            <material name="gray"/>
        </visual>
        <collision name="leg_5_femur_collision">
            <origin xyz="0.08130000406140293 -0.014000003563809024 -0.0052499967965648695" rpy="1.5707963267948986 -1.580441427876642e-15 -3.141592653589792" />
            <geometry>
                <mesh filename="CAD/femur.stl" scale="0.001 0.001 0.001" />
            </geometry>
        </collision>
    </link>
    <link name="leg_5_tibia_motor">
        <inertial>
            <origin xyz="-0.024447195967456564 0.008369896471417546 0.005249998999252784" rpy="0.0 -0.0 0.0" />
            <mass value="0.029139949883713843" />
            <inertia ixx="3.989084215369652e-06" iyy="5.0762677862824235e-06" izz="7.1920717004518315e-06" ixy="6.637044814052559e-08" iyz="9.421506352036367e-13" ixz="4.29736019718404e-13" />
        </inertial>
        <visual name="leg_5_tibia_motor_visual">
            <origin xyz="-0.044699995938596755 3.5638090034595394e-09 -0.004500003203435132" rpy="1.5707963267948946 -1.4579767479619067e-15 -3.330669073875487e-16" />
            <geometry>
                <mesh filename="CAD/MG996R.stl" scale="0.001 0.001 0.001" />
            </geometry>
            <material name="gray"/>
        </visual>
        <collision name="leg_5_tibia_motor_collision">
            <origin xyz="-0.044699995938596755 3.5638090034595394e-09 -0.004500003203435132" rpy="1.5707963267948946 -1.4579767479619067e-15 -3.330669073875487e-16" />
            <geometry>
                <mesh filename="CAD/MG996R.stl" scale="0.001 0.001 0.001" />
            </geometry>
        </collision>
    </link>
    <link name="leg_5_tibia_bracket_A">
        <inertial>
            <origin xyz="0.022523351200555517 0.01095042183735024 3.203435771093055e-09" rpy="0.0 -0.0 -2.107269615599639e-62" />
            <mass value="0.01302030082235085" />
            <inertia ixx="3.7783105830391976e-06" iyy="2.2212930817994483e-06" izz="5.134674926367895e-06" ixy="-1.3808520517478255e-06" iyz="-2.0604076441960856e-18" ixz="-1.3247595295057257e-18" />
        </inertial>
        <visual name="leg_5_tibia_bracket_A_visual">
            <origin xyz="0.07855315654093982 0.04320261504837358 3.203434947307571e-09" rpy="-1.570796326794895 2.6216440076822113e-15 1.5707963267948988" />
            <geometry>
                <mesh filename="CAD/bracket_A.stl" scale="0.001 0.001 0.001" />
            </geometry>
            <material name="gray"/>
        </visual>
        <collision name="leg_5_tibia_bracket_A_collision">
            <origin xyz="0.07855315654093982 0.04320261504837358 3.203434947307571e-09" rpy="-1.570796326794895 2.6216440076822113e-15 1.5707963267948988" />
            <geometry>
                <mesh filename="CAD/bracket_A.stl" scale="0.001 0.001 0.001" />
            </geometry>
        </collision>
    </link>
    <link name="leg_5_tibia_bracket_B">
        <inertial>
            <origin xyz="-0.004999996796602588 0.003105258106040103 0.015541722986995125" rpy="0.0 -0.0 0.0" />
            <mass value="0.004130529991365324" />
            <inertia ixx="5.500820140457417e-07" iyy="7.023383537157265e-07" izz="1.7682377544120263e-07" ixy="2.0413494028828638e-19" iyz="-1.0843141666911889e-08" ixz="2.270048298641525e-18" />
        </inertial>
        <visual name="leg_5_tibia_bracket_B_visual">
            <origin xyz="-0.004999996796564566 -0.022899996767244267 -0.004000004061403111" rpy="2.0884484115486532e-15 -1.8318679906315083e-15 1.5707963267949006" />
            <geometry>
                <mesh filename="CAD/bracket_B.stl" scale="0.001 0.001 0.001" />
            </geometry>
            <material name="gray"/>
        </visual>
        <collision name="leg_5_tibia_bracket_B_collision">
            <origin xyz="-0.004999996796564566 -0.022899996767244267 -0.004000004061403111" rpy="2.0884484115486532e-15 -1.8318679906315083e-15 1.5707963267949006" />
            <geometry>
                <mesh filename="CAD/bracket_B.stl" scale="0.001 0.001 0.001" />
            </geometry>
        </collision>
    </link>
    <link name="leg_5_tibia">
        <inertial>
            <origin xyz="-0.04313437175345925 -0.0049999967672459235 -0.026581936859366603" rpy="0.0 -0.0 -2.019102521551348e-94" />
            <mass value="0.02243468417663065" />
            <inertia ixx="2.8033158331316294e-06" iyy="4.125039150847836e-05" izz="3.948923882044343e-05" ixy="3.918374413998393e-18" iyz="2.862018449653874e-18" ixz="-4.163420888493417e-06" />
        </inertial>
        <visual name="leg_5_tibia_visual">
            <origin xyz="-0.03799999593859699 -0.0049999967672443735 -0.004999996871070658" rpy="2.1072934008282733e-15 -2.1649983278424766e-15 -1.570796326794895" />
            <geometry>
                <mesh filename="CAD/tibia.stl" scale="0.001 0.001 0.001" />
            </geometry>
            <material name="gray"/>
        </visual>
        <collision name="leg_5_tibia_collision">
            <origin xyz="-0.03799999593859699 -0.0049999967672443735 -0.004999996871070658" rpy="2.1072934008282733e-15 -2.1649983278424766e-15 -1.570796326794895" />
            <geometry>
                <mesh filename="CAD/tibia.stl" scale="0.001 0.001 0.001" />
            </geometry>
        </collision>
    </link>

    <joint name="base_leg_5_base_coxa_motor" type="fixed">
        <origin xyz="-0.08513499593859752 -0.00524999676724445 0.0" rpy="0.0 -0.0 -3.141592653589793" />
        <parent link="base" />
        <child link="leg_5_coxa_motor" />
    </joint>
    <joint name="leg_5_coxa_bracket_A_leg_5_coxa_bracket" type="fixed">
        <origin xyz="0.029999999999999992 0.005 -0.0453" rpy="2.465190328815662e-32 -1.5707963267948966 0" />
        <parent link="leg_5_coxa_bracket_A" />
        <child link="leg_5_coxa_bracket_B" />
    </joint>
    <joint name="leg_5_coxa" type="revolute">
        <origin xyz="-0.014449999999999994 -0.00525 0.03106621" rpy="0.0 -0.0 -2.465190328815662e-32" />
        <parent link="leg_5_coxa_motor" />
        <child link="leg_5_coxa_bracket_A" />
        <axis xyz="0.0 -0.0 -1.0" />
        <limit lower="-1.570796" upper="1.570796" effort="1000000" velocity="1000000" />
    </joint>
    <joint name="leg_5_femur_bracket_A_leg_5_coxa_bracket_femur_bracket" type="fixed">
        <origin xyz="0.0040000000000000036 0.0279 0.01" rpy="1.9721522630525295e-31 -1.5707963267948966 0" />
        <parent link="leg_5_femur_bracket_A" />
        <child link="leg_5_femur_bracket_B" />
    </joint>
    <joint name="leg_5_coxa_bracket_A_leg_5_femur_bracket" type="fixed">
        <origin xyz="0.033999999999999996 -0.005 -0.027400000000000004" rpy="1.7190554201182872e-33 1.9721522630525295e-31 2.465190328815662e-32" />
        <parent link="leg_5_coxa_bracket_A" />
        <child link="leg_5_femur_bracket_A" />
    </joint>
    <joint name="leg_5_femur" type="revolute">
        <origin xyz="0.034 -0.0174 0.005" rpy="-6.661338147750937e-16 -1.5707963267948966 0" />
        <parent link="leg_5_femur_bracket_A" />
        <child link="leg_5_femur_motor" />
        <axis xyz="-1.9721522630525295e-31 -1.0 -6.661338147750937e-16" />
        <limit lower="-1.570796" upper="1.570796" effort="1000000" velocity="1000000" />
    </joint>
    <joint name="leg_5_femur_motor_leg_5_femur_motor_femur" type="fixed">
        <origin xyz="0.00525 0.031066219999999988 0.01445000000000002" rpy="1.9721522630525295e-31 1.570796326794896 0" />
        <parent link="leg_5_femur_motor" />
        <child link="leg_5_femur" />
    </joint>
    <joint name="leg_5_femur_leg_5_femur_tibia_motor" type="fixed">
        <origin xyz="0.10559999999999999 0.0 0.0" rpy="3.141592653589793 4.598867427476946e-31 1.9721522630525295e-31" />
        <parent link="leg_5_femur" />
        <child link="leg_5_tibia_motor" />
    </joint>
    <joint name="leg_5_tibia_bracket_A_leg_5_tibia_bracket" type="fixed">
        <origin xyz="0.03 0.04529999999999999 0.005000000000000001" rpy="-5.9164567891575885e-31 -1.5707963267948966 0" />
        <parent link="leg_5_tibia_bracket_A" />
        <child link="leg_5_tibia_bracket_B" />
    </joint>
    <joint name="leg_5_tibia" type="revolute">
        <origin xyz="-0.014449999999999968 0.03106622 0.00525" rpy="-3.141592653589793 1.7406554366224627e-31 -1.9721522630525295e-31" />
        <parent link="leg_5_tibia_motor" />
        <child link="leg_5_tibia_bracket_A" />
        <axis xyz="1.9721522630525295e-31 1.0 -3.944304526105059e-31" />
        <limit lower="-2.181662" upper="-0.0" effort="1000000" velocity="1000000" />
    </joint>
    <joint name="leg_5_tibia_bracket_A_leg_5_tibia_bracket_tibia" type="fixed">
        <origin xyz="0.03399999999999999 0.027399999999999997 0.005000000000000001" rpy="-1.9721522630525295e-31 -8.533424418233808e-32 -5.9164567891575885e-31" />
        <parent link="leg_5_tibia_bracket_A" />
        <child link="leg_5_tibia" />
    </joint>

    <!-- Leg 6 -->

    <link name="leg_6_coxa_motor">
        <inertial>
            <origin xyz="-0.020999096654761695 0.013574470833849493 0.008369892907608513" rpy="0.0 -0.0 0.0" />
            <mass value="0.029139949883713843" />
            <inertia ixx="5.590577528174812e-06" iyy="5.59057838764681e-06" izz="5.076267786282396e-06" ixy="1.6014937425411153e-06" iyz="-4.693166015165066e-08" ixz="4.6930327749461454e-08" />
        </inertial>
        <visual name="leg_6_coxa_motor_visual">
            <origin xyz="-0.02842569617826518 0.03478965570556184 -2.958437799684086e-17" rpy="-3.1415926535897922 -7.60697105547759e-16 -0.7853981633974513" />
            <geometry>
                <mesh filename="CAD/MG996R.stl" scale="0.001 0.001 0.001" />
            </geometry>
            <material name="gray"/>
        </visual>
        <collision name="leg_6_coxa_motor_collision">
            <origin xyz="-0.02842569617826518 0.03478965570556184 -2.958437799684086e-17" rpy="-3.1415926535897922 -7.60697105547759e-16 -0.7853981633974513" />
            <geometry>
                <mesh filename="CAD/MG996R.stl" scale="0.001 0.001 0.001" />
            </geometry>
        </collision>
    </link>
    <link name="leg_6_coxa_bracket_B">
        <inertial>
            <origin xyz="-0.003105251669849145 0.0074541316097492686 0.01452519431564431" rpy="0.0 -0.0 0.0" />
            <mass value="0.004130529991365324" />
            <inertia ixx="7.023383537157197e-07" iyy="3.634528947457435e-07" izz="3.6345289474121016e-07" ixy="7.66725900188875e-09" iyz="-1.8662911930228182e-07" ixz="7.667259002194528e-09" />
        </inertial>
        <visual name="leg_6_coxa_bracket_B_visual">
            <origin xyz="0.022900003203435226 -0.006363956102242821 0.0007071066035985041" rpy="0.7853981633974506 -2.8098737128533416e-15 -3.1415926535897927" />
            <geometry>
                <mesh filename="CAD/bracket_B.stl" scale="0.001 0.001 0.001" />
            </geometry>
            <material name="gray"/>
        </visual>
        <collision name="leg_6_coxa_bracket_B_collision">
            <origin xyz="0.022900003203435226 -0.006363956102242821 0.0007071066035985041" rpy="0.7853981633974506 -2.8098737128533416e-15 -3.1415926535897927" />
            <geometry>
                <mesh filename="CAD/bracket_B.stl" scale="0.001 0.001 0.001" />
            </geometry>
        </collision>
    </link>
    <link name="leg_6_coxa_bracket_A">
        <inertial>
            <origin xyz="0.015926414333172618 -0.015926407039012762 -0.01095041540115921" rpy="0.0 -0.0 0.0" />
            <mass value="0.01302030082235085" />
            <inertia ixx="4.456492754702424e-06" iyy="4.456492754705013e-06" izz="2.22129308179961e-06" ixy="6.7818217166459e-07" iyz="-9.764098496048653e-07" ixz="9.764098496076063e-07" />
        </inertial>
        <visual name="leg_6_coxa_bracket_A_visual">
            <origin xyz="0.055545469637919835 -0.05554546234376124 -0.04320260861218251" rpy="-2.3561944901923417 1.5707963267948941 0" />
            <geometry>
                <mesh filename="CAD/bracket_A.stl" scale="0.001 0.001 0.001" />
            </geometry>
            <material name="gray"/>
        </visual>
        <collision name="leg_6_coxa_bracket_A_collision">
            <origin xyz="0.055545469637919835 -0.05554546234376124 -0.04320260861218251" rpy="-2.3561944901923417 1.5707963267948941 0" />
            <geometry>
                <mesh filename="CAD/bracket_A.stl" scale="0.001 0.001 0.001" />
            </geometry>
        </collision>
    </link>
    <link name="leg_6_femur_bracket_A">
        <inertial>
            <origin xyz="0.0035546758131921852 -0.012675761811910657 0.005000003203434644" rpy="0.0 -0.0 -5.6916151414570454e-61" />
            <mass value="0.01302030082235085" />
            <inertia ixx="4.380653884166928e-06" iyy="1.6189497806714257e-06" izz="5.134674926367895e-06" ixy="-7.78508750619918e-07" iyz="2.349669395683429e-18" ixz="4.726443845678996e-19" />
        </inertial>
        <visual name="leg_6_femur_bracket_A_visual">
            <origin xyz="-0.013258634963902375 0.04974903802049052 0.005000003203435347" rpy="1.5707963267948983 1.2896663962143644e-15 0.7853981633974464" />
            <geometry>
                <mesh filename="CAD/bracket_A.stl" scale="0.001 0.001 0.001" />
            </geometry>
            <material name="gray"/>
        </visual>
        <collision name="leg_6_femur_bracket_A_collision">
            <origin xyz="-0.013258634963902375 0.04974903802049052 0.005000003203435347" rpy="1.5707963267948983 1.2896663962143644e-15 0.7853981633974464" />
            <geometry>
                <mesh filename="CAD/bracket_A.stl" scale="0.001 0.001 0.001" />
            </geometry>
        </collision>
    </link>
    <link name="leg_6_femur_bracket_B">
        <inertial>
            <origin xyz="-0.0049999967965269135 -0.008793911746877933 -0.013185403175804317" rpy="-1.4471017969422533e-60 -0.0 0.0" />
            <mass value="0.004130529991365324" />
            <inertia ixx="5.500820140457555e-07" iyy="4.504242062453847e-07" izz="4.287379229115406e-07" ixy="1.456049636330143e-18" iyz="-2.62757289137254e-07" ixz="1.755052266710911e-18" />
        </inertial>
        <visual name="leg_6_femur_bracket_B_visual">
            <origin xyz="-0.004999996796564824 -0.013364316102242828 0.01902117660359851" rpy="-3.1415926535897896 0.7853981633974502 1.5707963267948983" />
            <geometry>
                <mesh filename="CAD/bracket_B.stl" scale="0.001 0.001 0.001" />
            </geometry>
            <material name="gray"/>
        </visual>
        <collision name="leg_6_femur_bracket_B_collision">
            <origin xyz="-0.004999996796564824 -0.013364316102242828 0.01902117660359851" rpy="-3.1415926535897896 0.7853981633974502 1.5707963267948983" />
            <geometry>
                <mesh filename="CAD/bracket_B.stl" scale="0.001 0.001 0.001" />
            </geometry>
        </collision>
    </link>
    <link name="leg_6_femur_motor">
        <inertial>
            <origin xyz="5.406123213536063e-09 0.00897963549471152 -0.02311781198061185" rpy="-9.860761315262648e-32 -0.0 0.0" />
            <mass value="0.029139949883713843" />
            <inertia ixx="7.192071700451943e-06" iyy="4.466305552685485e-06" izz="4.599046448966516e-06" ixy="-3.6233184828133885e-13" iyz="-5.435917854562355e-07" ixz="9.700703510872462e-13" />
        </inertial>
        <visual name="leg_6_femur_motor_visual">
            <origin xyz="-0.009749996796564728 0.0005771513298787489 -0.043357112210994926" rpy="3.141592653589789 -0.7853981633974477 1.5707963267948943" />
            <geometry>
                <mesh filename="CAD/MG996R.stl" scale="0.001 0.001 0.001" />
            </geometry>
            <material name="gray"/>
        </visual>
        <collision name="leg_6_femur_motor_collision">
            <origin xyz="-0.009749996796564728 0.0005771513298787489 -0.043357112210994926" rpy="3.141592653589789 -0.7853981633974477 1.5707963267948943" />
            <geometry>
                <mesh filename="CAD/MG996R.stl" scale="0.001 0.001 0.001" />
            </geometry>
        </collision>
    </link>
    <link name="leg_6_femur">
        <inertial>
            <origin xyz="0.03233101878081305 -0.0423394519555505 -0.005249996796564786" rpy="0.0 7.006492321624085e-46 -1.7752406945933872e-60" />
            <mass value="0.021802151943504742" />
            <inertia ixx="1.5076488302836042e-05" iyy="1.5076488302836794e-05" izz="2.518805683858018e-05" ixy="1.2232457663466143e-05" iyz="-3.388131789017184e-20" ixz="3.049318610115491e-20" />
        </inertial>
        <visual name="leg_6_femur_visual">
            <origin xyz="0.0475882854658107 -0.06738727179816055 -0.0052499967965648695" rpy="1.5707963267948986 -1.5804414278766377e-15 2.356194490192343" />
            <geometry>
                <mesh filename="CAD/femur.stl" scale="0.001 0.001 0.001" />
            </geometry>
            <material name="gray"/>
        </visual>
        <collision name="leg_6_femur_collision">
            <origin xyz="0.0475882854658107 -0.06738727179816055 -0.0052499967965648695" rpy="1.5707963267948986 -1.5804414278766377e-15 2.356194490192343" />
            <geometry>
                <mesh filename="CAD/femur.stl" scale="0.001 0.001 0.001" />
            </geometry>
        </collision>
    </link>
    <link name="leg_6_tibia_motor">
        <inertial>
            <origin xyz="-0.02320519376895019 -0.011368371244273305 0.00524999899925278" rpy="0.0 -0.0 1.9481407417666064e-90" />
            <mass value="0.029139949883713843" />
            <inertia ixx="4.466305552685429e-06" iyy="4.599046448966514e-06" izz="7.192071700452048e-06" ixy="-5.435917854563436e-07" iyz="9.700703781923004e-13" ixz="-3.623318415050744e-13" />
        </inertial>
        <visual name="leg_6_tibia_motor_visual">
            <origin xyz="-0.03160767793378287 -0.03160767147465645 -0.004500003203435137" rpy="1.5707963267948946 -1.4579767479619044e-15 0.7853981633974508" />
            <geometry>
                <mesh filename="CAD/MG996R.stl" scale="0.001 0.001 0.001" />
            </geometry>
            <material name="gray"/>
        </visual>
        <collision name="leg_6_tibia_motor_collision">
            <origin xyz="-0.03160767793378287 -0.03160767147465645 -0.004500003203435137" rpy="1.5707963267948946 -1.4579767479619044e-15 0.7853981633974508" />
            <geometry>
                <mesh filename="CAD/MG996R.stl" scale="0.001 0.001 0.001" />
            </geometry>
        </collision>
    </link>
    <link name="leg_6_tibia_bracket_A">
        <inertial>
            <origin xyz="0.02366952892442729 -0.008183294923145965 3.203435772203278e-09" rpy="0.0 -0.0 0.0" />
            <mass value="0.01302030082235085" />
            <inertia ixx="1.6189497806714257e-06" iyy="4.380653884167036e-06" izz="5.13467492636757e-06" ixy="-7.78508750619918e-07" iyz="-5.116079001415974e-19" ixz="-2.3954091748351614e-18" />
        </inertial>
        <visual name="leg_6_tibia_bracket_A_visual">
            <origin xyz="0.08609432875682856 -0.024996605700240763 3.203434949528017e-09" rpy="-1.570796326794895 2.621644007682213e-15 0.7853981633974475" />
            <geometry>
                <mesh filename="CAD/bracket_A.stl" scale="0.001 0.001 0.001" />
            </geometry>
            <material name="gray"/>
        </visual>
        <collision name="leg_6_tibia_bracket_A_collision">
            <origin xyz="0.08609432875682856 -0.024996605700240763 3.203434949528017e-09" rpy="-1.570796326794895 2.621644007682213e-15 0.7853981633974475" />
            <geometry>
                <mesh filename="CAD/bracket_A.stl" scale="0.001 0.001 0.001" />
            </geometry>
        </collision>
    </link>
    <link name="leg_6_tibia_bracket_B">
        <inertial>
            <origin xyz="-0.0049999967966025865 0.013185402439466145 0.008793911010539866" rpy="-1.5241149863310302e-61 8.758115402030107e-47 0.0" />
            <mass value="0.004130529991365324" />
            <inertia ixx="5.500820140457688e-07" iyy="4.2873792291151316e-07" izz="4.5042420624536415e-07" ixy="1.749970069027384e-18" iyz="-2.6275728913727415e-07" ixz="1.461131834013668e-18" />
        </inertial>
        <visual name="leg_6_tibia_bracket_B_visual">
            <origin xyz="-0.004999996796564563 -0.0190211773399367 0.013364315365904886" rpy="3.1519400262843607e-15 0.7853981633974492 1.570796326794902" />
            <geometry>
                <mesh filename="CAD/bracket_B.stl" scale="0.001 0.001 0.001" />
            </geometry>
            <material name="gray"/>
        </visual>
        <collision name="leg_6_tibia_bracket_B_collision">
            <origin xyz="-0.004999996796564563 -0.0190211773399367 0.013364315365904886" rpy="3.1519400262843607e-15 0.7853981633974492 1.570796326794902" />
            <geometry>
                <mesh filename="CAD/bracket_B.stl" scale="0.001 0.001 0.001" />
            </geometry>
        </collision>
    </link>
    <link name="leg_6_tibia">
        <inertial>
            <origin xyz="-0.034036145006844175 0.02696507230100039 -0.026581936859366603" rpy="0.0 -3.503246160812043e-46 6.160086635861049e-61" />
            <mass value="0.02243468417663065" />
            <inertia ixx="2.2026853670809032e-05" iyy="2.2026853670800894e-05" izz="3.948923882044343e-05" ixy="1.9223537837673444e-05" iyz="2.94398314318944e-06" ixz="-2.9439831431853813e-06" />
        </inertial>
        <visual name="leg_6_tibia_visual">
            <origin xyz="-0.03040559305099377 0.02333452034515215 -0.004999996871070658" rpy="2.1072934008282757e-15 -2.1649983278424747e-15 -2.356194490192346" />
            <geometry>
                <mesh filename="CAD/tibia.stl" scale="0.001 0.001 0.001" />
            </geometry>
            <material name="gray"/>
        </visual>
        <collision name="leg_6_tibia_collision">
            <origin xyz="-0.03040559305099377 0.02333452034515215 -0.004999996871070658" rpy="2.1072934008282757e-15 -2.1649983278424747e-15 -2.356194490192346" />
            <geometry>
                <mesh filename="CAD/tibia.stl" scale="0.001 0.001 0.001" />
            </geometry>
        </collision>
    </link>

    <joint name="base_leg_6_base_coxa_motor" type="fixed">
        <origin xyz="-0.07081356593859754 0.08875394323275541 0.0" rpy="0.0 -0.0 -3.141592653589793" />
        <parent link="base" />
        <child link="leg_6_coxa_motor" />
    </joint>
    <joint name="leg_6_coxa_bracket_A_leg_6_coxa_bracket" type="fixed">
        <origin xyz="0.024748739999999998 -0.01767767000000001 -0.045300000000000014" rpy="-3.944304526105059e-31 -1.5707963267948966 0" />
        <parent link="leg_6_coxa_bracket_A" />
        <child link="leg_6_coxa_bracket_B" />
    </joint>
    <joint name="leg_6_coxa" type="revolute">
        <origin xyz="-0.01393001 0.006505380000000009 0.03106621" rpy="0.0 -0.0 0.0" />
        <parent link="leg_6_coxa_motor" />
        <child link="leg_6_coxa_bracket_A" />
        <axis xyz="0.0 -0.0 -0.9999999999999999" />
        <limit lower="-1.570796" upper="1.570796" effort="1000000" velocity="1000000" />
    </joint>
    <joint name="leg_6_femur_bracket_A_leg_6_coxa_bracket_femur_bracket" type="fixed">
        <origin xyz="0.022556710000000004 0.01689985 0.01" rpy="5.9164567891575885e-31 -1.5707963267948966 0" />
        <parent link="leg_6_femur_bracket_A" />
        <child link="leg_6_femur_bracket_B" />
    </joint>
    <joint name="leg_6_coxa_bracket_A_leg_6_femur_bracket" type="fixed">
        <origin xyz="0.0205061 -0.027577160000000003 -0.02740000000000001" rpy="2.8859917401344424e-30 -1.97215226305253e-31 -3.944304526105059e-31" />
        <parent link="leg_6_coxa_bracket_A" />
        <child link="leg_6_femur_bracket_A" />
    </joint>
    <joint name="leg_6_femur" type="revolute">
        <origin xyz="0.011737970000000014 -0.03634529000000001 0.005" rpy="-6.661338147750934e-16 -1.5707963267948966 0" />
        <parent link="leg_6_femur_bracket_A" />
        <child link="leg_6_femur_motor" />
        <axis xyz="-2.733713951331856e-30 -0.7071070000000006 0.7071069999999997" />
        <limit lower="-1.570796" upper="1.570796" effort="1000000" velocity="1000000" />
    </joint>
    <joint name="leg_6_femur_motor_leg_6_femur_motor_femur" type="fixed">
        <origin xyz="0.00525 0.03218482000000002 -0.011749439999999983" rpy="5.916456789157522e-31 1.570796326794896 0" />
        <parent link="leg_6_femur_motor" />
        <child link="leg_6_femur" />
    </joint>
    <joint name="leg_6_femur_leg_6_femur_tibia_motor" type="fixed">
        <origin xyz="0.07467047999999998 -0.07467046999999999 2.220446049250313e-18" rpy="3.141592653589793 -1.5122655203048331e-30 -3.94430452610506e-31" />
        <parent link="leg_6_femur" />
        <child link="leg_6_tibia_motor" />
    </joint>
    <joint name="leg_6_tibia_bracket_A_leg_6_tibia_bracket" type="fixed">
        <origin xyz="0.05324514000000001 0.010818739999999992 0.005000000000000001" rpy="-3.94430452610506e-31 -1.5707963267948966 0" />
        <parent link="leg_6_tibia_bracket_A" />
        <child link="leg_6_tibia_bracket_B" />
    </joint>
    <joint name="leg_6_tibia" type="revolute">
        <origin xyz="-0.03218482999999999 0.01174944 0.00525" rpy="-3.141592653589793 4.759319555259378e-30 -1.9721522630525295e-31" />
        <parent link="leg_6_tibia_motor" />
        <child link="leg_6_tibia_bracket_A" />
        <axis xyz="0.707107 0.707107 -1.0126468723405222e-29" />
        <limit lower="-2.181662" upper="-0.0" effort="1000000" velocity="1000000" />
    </joint>
    <joint name="leg_6_tibia_bracket_A_leg_6_tibia_bracket_tibia" type="fixed">
        <origin xyz="0.043416360000000015 -0.004666899999999998 0.005000000000000001" rpy="-1.972152263052529e-31 4.8943502200252996e-30 -3.944304526105059e-31" />
        <parent link="leg_6_tibia_bracket_A" />
        <child link="leg_6_tibia" />
    </joint>

</robot>
